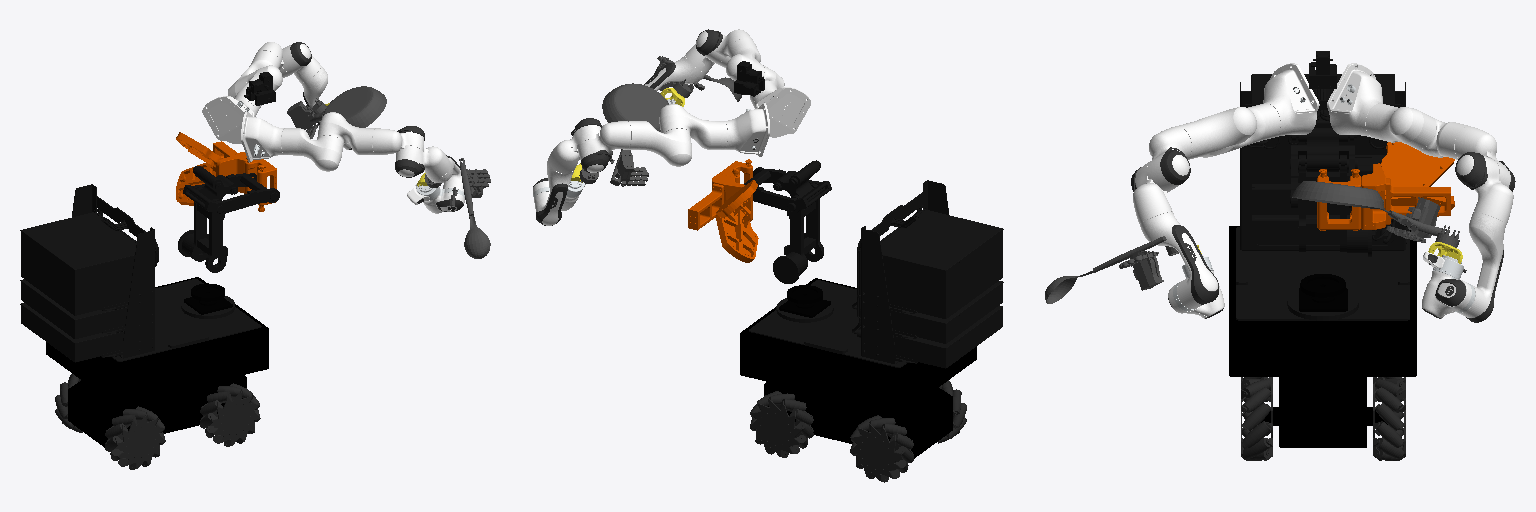
--- Render facts (derived) ---
3 views of the same robot in one strip: view 1: azimuth 30°, elevation 25°; view 2: azimuth 150°, elevation 25°; view 3: azimuth 270°, elevation 25° (orthographic).
Robot: curi — 114 links, 113 joints (85 revolute, 4 continuous, 23 fixed, 1 floating); root link world; default pose: all joints at 0 but 2 set to mid-range because 0 is outside their limits (panda_left_joint4 = -1.57, panda_right_joint4 = -1.57).
Visible links, largest first — view 1: control_box, summit_xls_base_link, summit_xls_back_right_wheel_link, torso_end, summit_xls_front_right_wheel_link, torso_link_b2, pan_link, torso_link_c1, panda_right_link1, panda_left_link0, panda_right_link0, panda_right_link4 (+11 smaller); view 2: control_box, summit_xls_base_link, torso_end, summit_xls_back_left_wheel_link, summit_xls_front_left_wheel_link, torso_link_b2, pan_link, panda_left_link2, panda_right_link0, panda_left_link1, panda_left_link0, panda_left_link3 (+9 smaller); view 3: control_box, summit_xls_base_link, torso_end, panda_right_link5, panda_left_link0, panda_right_link0, panda_left_link5, summit_xls_front_left_wheel_link, summit_xls_front_right_wheel_link, panda_right_link2, panda_left_link4, panda_left_link1 (+17 smaller).
Boxes of the visible links, x1,y1,x2,y2 form: control_box: (20,184,261,362); summit_xls_base_link: (46,277,268,447); summit_xls_back_right_wheel_link: (105,406,165,469); torso_end: (176,132,276,211); summit_xls_front_right_wheel_link: (200,383,260,446); torso_link_b2: (178,187,227,272); pan_link: (310,86,386,127); torso_link_c1: (183,173,279,215); panda_right_link1: (281,128,343,171); panda_left_link0: (202,96,255,143); panda_right_link0: (241,111,284,162); panda_right_link4: (395,145,449,177); control_box: (749,180,1003,368); summit_xls_base_link: (740,278,976,458); torso_end: (688,159,758,262); summit_xls_back_left_wheel_link: (850,415,913,482); summit_xls_front_left_wheel_link: (750,391,813,457); torso_link_b2: (773,183,823,283); pan_link: (602,83,668,185); panda_left_link2: (628,121,691,166); panda_right_link0: (754,87,810,137); panda_left_link1: (659,104,727,149); panda_left_link0: (724,103,769,156); panda_left_link3: (578,121,630,172); control_box: (1236,74,1409,320); summit_xls_base_link: (1229,226,1416,447); torso_end: (1317,142,1454,230); panda_right_link5: (1140,212,1218,308); panda_left_link0: (1327,63,1382,137); panda_right_link0: (1263,63,1319,137); panda_left_link5: (1457,212,1506,322); summit_xls_front_left_wheel_link: (1373,379,1405,460); summit_xls_front_right_wheel_link: (1241,379,1272,460); panda_right_link2: (1179,107,1256,159); panda_left_link4: (1455,152,1513,223); panda_left_link1: (1366,103,1435,148).
Bounding box of the posed robot: 1.76 × 1.45 × 1.51 m (x, y, z).
75 mesh visuals loaded from 34 distinct referenced files (9 binary STL, 20 Collada DAE, 2 OBJ); not drawn: 3 (reference not matched to a file when rendering).

robot.urdf — curi:
<?xml version="1.0" ?>
<!-- =================================================================================== -->
<!-- |    This document was autogenerated by xacro from ../robots/curi.urdf.xacro      | -->
<!-- |    EDITING THIS FILE BY HAND IS NOT RECOMMENDED                                 | -->
<!-- =================================================================================== -->
<robot name="curi">
  <!-- in kg-->
  <!-- =============================================================== -->
  <!-- || This file does not contain official inertial properties   || -->
  <!-- || of panda robot. The values are from the identification    || -->
  <!-- || results published in: Identification of the Franka Emika  || -->
  <!-- || PandaRobot With Retrieval of Feasible Parameters Using    || -->
  <!-- || Penalty-Based Optimization                                || -->
  <!-- || by: Claudio Gaz, Marco Cognetti, Alexander Oliva,         || -->
  <!-- || Paolo Robuffo Giordano, Alessandro de Luca                || -->
  <!-- =============================================================== -->
  <link name="world"/>
  <material name="qbhand/optional">
  <color rgba="0.0 0.5 0.8 1.0"/>
  </material>
  <material name="qbhand/base">
    <color rgba="0.35 0.35 0.35 1.0"/>
  </material>
  <material name="qbhand/palm">
    <color rgba="0.35 0.35 0.35 1.0"/>
  </material>
  <material name="qbhand/knuckle">
    <color rgba="0.35 0.35 0.35 1.0"/>
  </material>
  <material name="qbhand/proximal">
    <color rgba="0.35 0.35 0.35 1.0"/>
  </material>
  <material name="qbhand/middle">
    <color rgba="0.35 0.35 0.35 1.0"/>
  </material>
  <material name="qbhand/distal">
    <color rgba="0.35 0.35 0.35 1.0"/>
  </material>
  <material name="qbhand/default">
    <color rgba="0.35 0.35 0.35 1.0"/>
  </material>
  <joint name="reference" type="floating">
    <parent link="world"/>
    <child link="summit_xls_base_footprint"/>
  </joint>
  <link name="summit_xls_base_footprint">
    <visual>
      <origin rpy="0 0 0" xyz="0 0 0"/>
      <geometry>
        <box size="0.001 0.001 0.001"/>
      </geometry>
    </visual>
  </link>
  <joint name="summit_xls_base_footprint_joint" type="fixed">
    <origin rpy="0 0 0" xyz="0 0 0.127"/>
    <parent link="summit_xls_base_footprint"/>
    <child link="summit_xls_base_link"/>
  </joint>
  <!-- BASE_LINK -->
  <link name="summit_xls_base_link">
    <inertial>
      <mass value="125.0"/>
      <origin xyz="0 0 0"/>
      <inertia ixx="1.391" ixy="0.004" ixz="0.0" iyy="6.853" iyz="0.0" izz="6.125"/>
    </inertial>
    <visual>
      <origin rpy="0 0 0" xyz="0 0 0"/>
      <geometry>
        <mesh filename="../meshes/robotnik/bases/summit_xls_chassis.dae"/>
      </geometry>
      <material name="black">
        <color rgba="0.0 0.0 0.0 1"/>
      </material>
    </visual>
    <collision>
      <origin rpy="0 0 0 " xyz="0 0 0"/>
      <geometry>
        <mesh filename="../meshes/robotnik/bases/summit_xls_chassis.stl"/>
      </geometry>
    </collision>
  </link>
  <joint name="summit_xls_front_right_wheel_joint" type="continuous">
    <parent link="summit_xls_base_link"/>
    <child link="summit_xls_front_right_wheel_link"/>
    <origin rpy="0 0 0" xyz="0.2225 -0.2045 0.0"/>
    <axis rpy="0 0 0" xyz="0 1 0"/>
    <limit effort="100" velocity="100"/>
    <joint_properties damping="0.0" friction="0.0"/>
  </joint>
  <link name="summit_xls_front_right_wheel_link">
    <visual>
      <origin rpy="0 0 0" xyz="0 0 0"/>
      <geometry>
        <mesh filename="../meshes/robotnik/wheels/omni_wheel_2.dae"/>
      </geometry>
      <material name="darkgrey">
        <color rgba="0.2 0.2 0.2 1"/>
      </material>
    </visual>
    <collision>
      <origin rpy="1.5707963267948966 0 0" xyz="0 0 0"/>
      <geometry>
        <cylinder length="0.087" radius="0.127"/>
      </geometry>
    </collision>
    <inertial>
      <mass value="6.5"/>
      <origin xyz="0 0 0"/>
      <inertia ixx="0.0303095" ixy="0" ixz="0" iyy="0.05241925" iyz="0" izz="0.0303095"/>
    </inertial>
  </link>
  <joint name="summit_xls_front_left_wheel_joint" type="continuous">
    <parent link="summit_xls_base_link"/>
    <child link="summit_xls_front_left_wheel_link"/>
    <origin rpy="0 0 0" xyz="0.2225 0.2045 0.0"/>
    <axis rpy="0 0 0" xyz="0 1 0"/>
    <limit effort="100" velocity="100"/>
    <joint_properties damping="0.0" friction="0.0"/>
  </joint>
  <link name="summit_xls_front_left_wheel_link">
    <visual>
      <origin rpy="0 0 0" xyz="0 0 0"/>
      <geometry>
        <mesh filename="../meshes/robotnik/wheels/omni_wheel_1.dae"/>
      </geometry>
      <material name="darkgrey">
        <color rgba="0.2 0.2 0.2 1"/>
      </material>
    </visual>
    <collision>
      <origin rpy="1.5707963267948966 0 0" xyz="0 0 0"/>
      <geometry>
        <cylinder length="0.087" radius="0.127"/>
      </geometry>
    </collision>
    <inertial>
      <mass value="6.5"/>
      <origin xyz="0 0 0"/>
      <inertia ixx="0.0303095" ixy="0" ixz="0" iyy="0.05241925" iyz="0" izz="0.0303095"/>
    </inertial>
  </link>
  <joint name="summit_xls_back_left_wheel_joint" type="continuous">
    <parent link="summit_xls_base_link"/>
    <child link="summit_xls_back_left_wheel_link"/>
    <origin rpy="0 0 0" xyz="-0.2225 0.2045 0.0"/>
    <axis rpy="0 0 0" xyz="0 1 0"/>
    <limit effort="100" velocity="100"/>
    <joint_properties damping="0.0" friction="0.0"/>
  </joint>
  <link name="summit_xls_back_left_wheel_link">
    <visual>
      <origin rpy="0 0 0" xyz="0 0 0"/>
      <geometry>
        <mesh filename="../meshes/robotnik/wheels/omni_wheel_1.dae"/>
      </geometry>
      <material name="darkgrey">
        <color rgba="0.2 0.2 0.2 1"/>
      </material>
    </visual>
    <collision>
      <origin rpy="1.5707963267948966 0 0" xyz="0 0 0"/>
      <geometry>
        <cylinder length="0.087" radius="0.127"/>
      </geometry>
    </collision>
    <inertial>
      <mass value="6.5"/>
      <origin xyz="0 0 0"/>
      <inertia ixx="0.0303095" ixy="0" ixz="0" iyy="0.05241925" iyz="0" izz="0.0303095"/>
    </inertial>
  </link>
  <joint name="summit_xls_back_right_wheel_joint" type="continuous">
    <parent link="summit_xls_base_link"/>
    <child link="summit_xls_back_right_wheel_link"/>
    <origin rpy="0 0 0" xyz="-0.2225 -0.2045 0.0"/>
    <axis rpy="0 0 0" xyz="0 1 0"/>
    <limit effort="100" velocity="100"/>
    <joint_properties damping="0.0" friction="0.0"/>
  </joint>
  <link name="summit_xls_back_right_wheel_link">
    <visual>
      <origin rpy="0 0 0" xyz="0 0 0"/>
      <geometry>
        <mesh filename="../meshes/robotnik/wheels/omni_wheel_2.dae"/>
      </geometry>
      <material name="darkgrey">
        <color rgba="0.2 0.2 0.2 1"/>
      </material>
    </visual>
    <collision>
      <origin rpy="1.5707963267948966 0 0" xyz="0 0 0"/>
      <geometry>
        <cylinder length="0.087" radius="0.127"/>
      </geometry>
    </collision>
    <inertial>
      <mass value="6.5"/>
      <origin xyz="0 0 0"/>
      <inertia ixx="0.0303095" ixy="0" ixz="0" iyy="0.05241925" iyz="0" izz="0.0303095"/>
    </inertial>
  </link>
  <joint name="torso_joint_summit_xls_base_footprint" type="fixed">
    <parent link="summit_xls_base_footprint"/>
    <child link="control_box"/>
    <origin rpy="0 0 0" xyz="0 0 0.52262"/>
  </joint>
  <link name="control_box">
    <visual>
      <origin rpy="0 0 0" xyz="0 0 0"/>
      <geometry>
        <mesh filename="../meshes/clover/visual/control_box.dae"/>
      </geometry>
    </visual>
    <inertial>
      <!-- Estimated guesses from CAD -->
      <origin rpy="0 0 0" xyz="-0.221652 1.4173e-02 0.165597"/>
      <mass value="37.813"/>
      <inertia ixx="1.672305973" ixy="-0.023504956" ixz="-0.565170381" iyy="2.616747309" iyz="0.046623093" izz="2.524344244"/>
    </inertial>
  </link>
  <link name="torso_base1">
    <visual>
      <origin rpy="0 0 0" xyz="0 0 0"/>
      <geometry>
        <mesh filename="../meshes/clover/visual/torso_base1.dae"/>
      </geometry>
    </visual>
    <collision>
      <origin rpy="0 0 0" xyz="0 0 0"/>
      <geometry>
        <mesh filename="../meshes/clover/collision/torso_base1.stl"/>
      </geometry>
    </collision>
    <inertial>
      <origin rpy="0 0 0" xyz="0 0 0.02555"/>
      <mass value="1.18"/>
      <inertia ixx="0.00241116" ixy="0" ixz="0" iyy="0.00241116" iyz="0" izz="0.00362611"/>
    </inertial>
  </link>
  <joint name="torso_joint1" type="fixed">
    <origin rpy="0 0 0" xyz="0.2375 0 0.015"/>
    <parent link="control_box"/>
    <child link="torso_base1"/>
  </joint>
  <link name="torso_base2">
    <visual>
      <origin rpy="0 0 0" xyz="0 0 0"/>
      <geometry>
        <mesh filename="../meshes/clover/visual/torso_base2.dae"/>
      </geometry>
    </visual>
    <collision>
      <origin rpy="0 0 0" xyz="0 0 0"/>
      <geometry>
        <mesh filename="../meshes/clover/collision/torso_base2.stl"/>
      </geometry>
    </collision>
    <inertial>
      <origin rpy="0 0 0" xyz="-0.05478 0.03332 -0.07616"/>
      <mass value="35.66"/>
      <inertia ixx="0.87275935" ixy="-0.06173772" ixz="0.01895727" iyy="0.57302356" iyz="0.11888755" izz="1.06212354"/>
    </inertial>
  </link>
  <joint name="torso_actuated_joint1" type="revolute">
    <safety_controller k_position="100.0" k_velocity="40.0" soft_lower_limit="-1.5" soft_upper_limit="1.5"/>
    <origin rpy="0 0 0" xyz="0 0 0.215"/>
    <parent link="torso_base1"/>
    <child link="torso_base2"/>
    <axis xyz="0 0 1"/>
    <limit acceleration="0.6" effort="300" lower="-1.57" upper="1.57" velocity="0.3"/>
    <dynamics D="1" K="7000" damping="0.003" friction="0.0" mu_coulomb="0" mu_viscous="16"/>
  </joint>
  <link name="torso_link_b2">
    <visual>
      <origin rpy="0 0 0" xyz="0 0 0"/>
      <geometry>
        <mesh filename="../meshes/clover/visual/torso_link_b2.dae"/>
      </geometry>
    </visual>
    <collision>
      <origin rpy="0 0 0" xyz="0 0 0"/>
      <geometry>
        <mesh filename="../meshes/clover/collision/torso_link_b2.stl"/>
      </geometry>
    </collision>
    <inertial>
      <origin rpy="0 0 0" xyz="2.066e-03 2.4036e-02 8.3361e-02"/>
      <mass value="2.698"/>
      <inertia ixx="0.035907338" ixy="-0.000134319" ixz="0.000037769" iyy="0.023944853" iyz="-0.005304362" izz="0.014484777"/>
    </inertial>
  </link>
  <joint name="torso_actuated_joint2" type="fixed">
    <origin rpy="0 0 0" xyz="0 0 0"/>
    <parent link="torso_base2"/>
    <child link="torso_link_b2"/>
  </joint>
  <link name="torso_middle">
    <visual>
      <origin rpy="0 0 0" xyz="0 0 0"/>
      <geometry>
        <mesh filename="../meshes/clover/visual/torso_middle.dae"/>
      </geometry>
    </visual>
    <collision>
      <origin rpy="0 0 0" xyz="0 0 0"/>
      <geometry>
        <mesh filename="../meshes/clover/collision/torso_middle.stl"/>
      </geometry>
    </collision>
    <inertial>
      <origin rpy="0 0 0" xyz="3.2089e-02 0 4.789e-02"/>
      <mass value="2.688"/>
      <inertia ixx="0.00744652" ixy="-0.00003495" ixz="0.000230038" iyy="0.006884728" iyz="0.000041279" izz="0.008084049"/>
    </inertial>
  </link>
  <joint name="torso_joint5" type="fixed">
    <origin rpy="0 0 0" xyz="0 0 0.25"/>
    <parent link="torso_link_b2"/>
    <child link="torso_middle"/>
  </joint>
  <link name="torso_link_c1">
    <visual>
      <origin rpy="0 0 0" xyz="0 0 0"/>
      <geometry>
        <mesh filename="../meshes/clover/visual/torso_link_c1.dae"/>
      </geometry>
    </visual>
    <collision>
      <origin rpy="0 0 0" xyz="0 0 0"/>
      <geometry>
        <mesh filename="../meshes/clover/collision/torso_link_c1.stl"/>
      </geometry>
    </collision>
    <inertial>
      <origin rpy="0 0 0" xyz="0.10533 1.503e-03 9.863e-03"/>
      <mass value="2.4"/>
      <inertia ixx="0.014986407" ixy="-1.7102e-05" ixz="-4.53321e-04" iyy="0.027549549" iyz="-3.557e-05" izz="0.041344611"/>
    </inertial>
  </link>
  <joint name="torso_actuated_joint3" type="fixed">
    <origin rpy="0 0 0" xyz="0 0 0"/>
    <parent link="torso_middle"/>
    <child link="torso_link_c1"/>
  </joint>
  <link name="torso_end">
    <visual>
      <origin rpy="0 0 0" xyz="0 0 0"/>
      <geometry>
        <mesh filename="../meshes/clover/visual/torso_end_v2_yup.dae"/>
      </geometry>
    </visual>
    <collision>
      <origin rpy="0 0 0" xyz="0 0 0"/>
      <geometry>
        <mesh filename="../meshes/clover/collision/torso_end_v2_yup.stl"/>
      </geometry>
    </collision>
    <inertial>
      <origin rpy="0 0 0" xyz="1.3086e-02 0.132e-03 0.184066"/>
      <mass value="12.083"/>
      <inertia ixx="0.146638956" ixy="-2.2432e-05" ixz="-0.012989506" iyy="0.097685785" iyz="-2.19304e-04" izz="0.100449047"/>
    </inertial>
  </link>
  <link name="shell">
    <visual>
      <origin rpy="0 0 0" xyz="0 0 0"/>
      <geometry>
        <mesh filename="../meshes/clover/visual/Shell_v2_Share_yup.dae"/>
      </geometry>
    </visual>
    <collision>
      <origin rpy="0 0 0" xyz="0 0 0"/>
      <geometry>
        <mesh filename="../meshes/clover/collision/Shell_v2_Share_yup.STL"/>
      </geometry>
    </collision>
    <inertial>
      <origin rpy="0 0 0" xyz="0.120384 0.569e-03 6.703e-03"/>
      <mass value="1.63531"/>
      <inertia ixx="0.010693997" ixy="5.645e-06" ixz="-9.4779e-04" iyy="0.026717753" iyz="-8.196e-06" izz="0.036543169"/>
    </inertial>
  </link>
  <joint name="shell_torso_end" type="fixed">
    <parent link="torso_end"/>
    <child link="shell"/>
    <origin rpy="0 0 0" xyz="0 0 0"/>
  </joint>
  <joint name="torso_joint8" type="fixed">
    <origin rpy="0 0 0" xyz="0.25 0 0"/>
    <parent link="torso_link_c1"/>
    <child link="torso_end"/>
  </joint>
  <joint name="head_joint_torso_end" type="fixed">
    <parent link="torso_end"/>
    <child link="head_base"/>
    <origin rpy="0 0 0" xyz="0.02 0 0.3929"/>
  </joint>
  <link name="head_base">
    <visual>
      <origin rpy="0 0 0" xyz="0 0 0"/>
      <geometry>
        <mesh filename="../meshes/clover/visual/head_base.dae"/>
      </geometry>
    </visual>
    <collision>
      <origin rpy="0 0 0" xyz="0 0 0"/>
      <geometry>
        <mesh filename="../meshes/clover/collision/head_base.stl"/>
      </geometry>
    </collision>
    <inertial>
      <!-- Estimated guesses from CAD -->
      <origin rpy="0 0 0" xyz="-1.9726e-02 1.281e-03 2.2693e-02"/>
      <mass value="0.803"/>
      <inertia ixx="6.56432e-04" ixy="-3.4976e-05" ixz="0.652e-6" iyy="6.42664e-04" iyz="-1.577e-06" izz="1.046862e-03"/>
    </inertial>
  </link>
  <joint name="head_actuated_joint1" type="revolute">
    <safety_controller k_position="100.0" k_velocity="40.0" soft_lower_limit="-1.5" soft_upper_limit="1.5"/>
    <origin rpy="0 0 0" xyz="0 0 0.045"/>
    <parent link="head_base"/>
    <child link="head_link1"/>
    <axis xyz="0 0 1"/>
    <limit effort="30" lower="-1.57" upper="1.57" velocity="1.0"/>
    <dynamics D="1" K="7000" damping="0.003" friction="0.0" mu_coulomb="0" mu_viscous="16"/>
  </joint>
  <link name="head_link1">
    <visual>
      <origin rpy="0 0 0" xyz="0 0 0"/>
      <geometry>
        <mesh filename="../meshes/clover/visual/head_link1.dae"/>
      </geometry>
    </visual>
    <collision>
      <origin rpy="0 0 0" xyz="0 0 0"/>
      <geometry>
        <mesh filename="../meshes/clover/collision/head_link1.stl"/>
      </geometry>
    </collision>
    <inertial>
      <!-- Estimated guesses from CAD -->
      <origin rpy="0 0 0" xyz="-1.8392e-02 -0.4e-03 2.8338e-02"/>
      <mass value="0.534"/>
      <inertia ixx="2.34142e-04" ixy="-3.129e-06" ixz="6.321e-05" iyy="5.09246e-04" iyz="1.49e-06" izz="4.3777e-04"/>
    </inertial>
  </link>
  <joint name="head_actuated_joint2" type="revolute">
    <safety_controller k_position="100.0" k_velocity="40.0" soft_lower_limit="-0.8" soft_upper_limit="0.5"/>
    <origin rpy="0 0 0" xyz="0 0 0.043"/>
    <parent link="head_link1"/>
    <child link="head_link2"/>
    <axis xyz="0 1 0"/>
    <limit effort="30" lower="-0.82" upper="0.52" velocity="1.0"/>
    <dynamics D="1" K="7000" damping="0.003" friction="0.0" mu_coulomb="0" mu_viscous="16"/>
  </joint>
  <link name="head_link2">
    <visual>
      <origin rpy="0 0 0" xyz="0 0 0"/>
      <geometry>
        <mesh filename="../meshes/clover/visual/head_link2.dae"/>
      </geometry>
    </visual>
    <collision>
      <origin rpy="0 0 0" xyz="0 0 0"/>
      <geometry>
        <mesh filename="../meshes/clover/collision/head_link2.stl"/>
      </geometry>
    </collision>
    <inertial>
      <!-- Estimated guesses from CAD -->
      <origin rpy="0 0 0" xyz="3.8624e-02 0 0.143829"/>
      <mass value="1.346"/>
      <inertia ixx="0.010306864" ixy="-5.953e-06" ixz="6.74795e-04" iyy="0.011632066" iyz="-1.125e-06" izz="0.009582498"/>
    </inertial>
  </link>
  <joint name="panda_left_joint_torso_end" type="fixed">
    <parent link="torso_end"/>
    <child link="panda_left_link0"/>
    <origin rpy="-1.3685238493647454 0.913218224774749 -0.6168337646727412" xyz="-0.08537 0.07009 0.2535"/>
  </joint>
  <link name="panda_left_link0">
    <visual>
      <origin rpy="0 0 0" xyz="0 0 0"/>
      <geometry>
        <mesh filename="../meshes/franka/visual/link0.dae"/>
      </geometry>
    </visual>
    <collision>
      <origin rpy="0 0 0" xyz="0 0 0"/>
      <geometry>
        <mesh filename="../meshes/franka/collision/link0.stl"/>
      </geometry>
    </collision>
    <inertial>
      <!-- Estimated guesses from CAD -->
      <origin rpy="0 0 0" xyz="-0.041018 -0.00014 0.049974"/>
      <mass value="0.629769"/>
      <inertia ixx="0.00315" ixy="8.2904E-07" ixz="0.00015" iyy="0.00388" iyz="8.2299E-06" izz="0.004285"/>
    </inertial>
  </link>
  <link name="panda_left_link1">
    <visual>
      <origin rpy="0 0 0" xyz="0 0 0"/>
      <geometry>
        <mesh filename="../meshes/franka/visual/link1.dae"/>
      </geometry>
    </visual>
    <collision>
      <origin rpy="0 0 0" xyz="0 0 0"/>
      <geometry>
        <mesh filename="../meshes/franka/collision/link1.stl"/>
      </geometry>
    </collision>
    <inertial>
      <origin rpy="0 0 0" xyz="0.003875 0.002081 -0.04762"/>
      <mass value="4.970684"/>
      <inertia ixx="0.70337" ixy="-0.00013900" ixz="0.0067720" iyy="0.70661" iyz="0.019169" izz="0.0091170"/>
    </inertial>
  </link>
  <joint name="panda_left_joint1" type="revolute">
    <safety_controller k_position="100.0" k_velocity="40.0" soft_lower_limit="-2.8973" soft_upper_limit="2.8973"/>
    <origin rpy="0 0 0" xyz="0 0 0.333"/>
    <parent link="panda_left_link0"/>
    <child link="panda_left_link1"/>
    <axis xyz="0 0 1"/>
    <limit acceleration="15" effort="87" lower="-2.8973" upper="2.8973" velocity="2.1750"/>
    <dynamics D="1" K="7000" damping="0.003" friction="0.0" mu_coulomb="0" mu_viscous="16"/>
  </joint>
  <link name="panda_left_link2">
    <visual>
      <origin rpy="0 0 0" xyz="0 0 0"/>
      <geometry>
        <mesh filename="../meshes/franka/visual/link2.dae"/>
      </geometry>
    </visual>
    <collision>
      <origin rpy="0 0 0" xyz="0 0 0"/>
      <geometry>
        <mesh filename="../meshes/franka/collision/link2.stl"/>
      </geometry>
    </collision>
    <inertial>
      <origin rpy="0 0 0" xyz=" -0.003141 -0.02872  0.003495"/>
      <mass value="0.646926"/>
      <inertia ixx="0.0079620" ixy="-3.9250e-3" ixz="1.0254e-02" iyy="2.8110e-02" iyz="7.0400e-04" izz="2.5995e-02"/>
    </inertial>
  </link>
  <joint name="panda_left_joint2" type="revolute">
    <safety_controller k_position="100.0" k_velocity="40.0" soft_lower_limit="-1.7628" soft_upper_limit="1.7628"/>
    <origin rpy="-1.5707963267948966 0 0" xyz="0 0 0"/>
    <parent link="panda_left_link1"/>
    <child link="panda_left_link2"/>
    <axis xyz="0 0 1"/>
    <limit acceleration="7.5" effort="87" lower="-1.7628" upper="1.7628" velocity="2.1750"/>
    <dynamics D="1" K="7000" damping="0.003" friction="0.0" mu_coulomb="0" mu_viscous="16"/>
  </joint>
  <link name="panda_left_link3">
    <visual>
      <origin rpy="0 0 0" xyz="0 0 0"/>
      <geometry>
        <mesh filename="../meshes/franka/visual/link3.dae"/>
      </geometry>
    </visual>
    <collision>
      <origin rpy="0 0 0" xyz="0 0 0"/>
      <geometry>
        <mesh filename="../meshes/franka/collision/link3.stl"/>
      </geometry>
    </collision>
    <inertial>
      <origin rpy="0 0 0" xyz="2.7518e-02 3.9252e-02 -6.6502e-02"/>
      <mass value="3.228604"/>
      <inertia ixx="3.7242e-02" ixy="-4.7610e-03" ixz="-1.1396e-02" iyy="3.6155e-02" iyz="-1.2805e-02" izz="1.0830e-02"/>
    </inertial>
  </link>
  <joint name="panda_left_joint3" type="revolute">
    <safety_controller k_position="100.0" k_velocity="40.0" soft_lower_limit="-2.8973" soft_upper_limit="2.8973"/>
    <origin rpy="1.5707963267948966 0 0" xyz="0 -0.316 0"/>
    <parent link="panda_left_link2"/>
    <child link="panda_left_link3"/>
    <axis xyz="0 0 1"/>
    <limit acceleration="12.5" effort="87" lower="-2.8973" upper="2.8973" velocity="2.1750"/>
    <dynamics D="1" K="7000" damping="0.003" friction="0.0" mu_coulomb="0" mu_viscous="16"/>
  </joint>
  <link name="panda_left_link4">
    <visual>
      <origin rpy="0 0 0" xyz="0 0 0"/>
      <geometry>
        <mesh filename="../meshes/franka/visual/link4.dae"/>
      </geometry>
    </visual>
    <collision>
      <origin rpy="0 0 0" xyz="0 0 0"/>
      <geometry>
        <mesh filename="../meshes/franka/collision/link4.stl"/>
      </geometry>
    </collision>
    <inertial>
      <origin rpy="0 0 0" xyz="-5.317e-02 1.04419e-01 2.7454e-02"/>
      <mass value="3.587895"/>
      <inertia ixx="2.5853e-02" ixy="7.7960e-03" ixz="-1.3320e-03" iyy="1.9552e-02" iyz="8.6410e-03" izz="2.8323e-02"/>
    </inertial>
  </link>
  <joint name="panda_left_joint4" type="revolute">
    <safety_controller k_position="100.0" k_velocity="40.0" soft_lower_limit="-3.0718" soft_upper_limit="-0.0698"/>
    <origin rpy="1.5707963267948966 0 0" xyz="0.0825 0 0"/>
    <parent link="panda_left_link3"/>
    <child link="panda_left_link4"/>
    <axis xyz="0 0 1"/>
    <limit acceleration="12.5" effort="87" lower="-3.0718" upper="-0.0698" velocity="2.1750"/>
    <dynamics D="1" K="7000" damping="0.003" friction="0.0" mu_coulomb="0" mu_viscous="16"/>
  </joint>
  <link name="panda_left_link5">
    <visual>
      <origin rpy="0 0 0" xyz="0 0 0"/>
      <geometry>
        <mesh filename="../meshes/franka/visual/link5.dae"/>
      </geometry>
    </visual>
    <collision>
      <origin rpy="0 0 0" xyz="0 0 0"/>
      <geometry>
        <mesh filename="../meshes/franka/collision/link5.stl"/>
      </geometry>
    </collision>
    <inertial>
      <origin rpy="0 0 0" xyz="-1.1953e-02 4.1065e-02 -3.8437e-02"/>
      <mass value="1.225946"/>
      <inertia ixx="3.5549e-02" ixy="-2.1170e-03" ixz="-4.0370e-03" iyy="2.9474e-02" iyz="2.2900e-04" izz="8.6270e-03"/>
    </inertial>
  </link>
  <joint name="panda_left_joint5" type="revolute">
    <safety_controller k_position="100.0" k_velocity="40.0" soft_lower_limit="-2.8973" soft_upper_limit="2.8973"/>
    <origin rpy="-1.5707963267948966 0 0" xyz="-0.0825 0.384 0"/>
    <parent link="panda_left_link4"/>
    <child link="panda_left_link5"/>
    <axis xyz="0 0 1"/>
    <limit acceleration="15" effort="12" lower="-2.8973" upper="2.8973" velocity="2.6100"/>
    <dynamics D="1" K="7000" damping="0.003" friction="0.0" mu_coulomb="0" mu_viscous="16"/>
  </joint>
  <link name="panda_left_link6">
    <visual>
      <origin rpy="0 0 0" xyz="0 0 0"/>
      <geometry>
        <mesh filename="../meshes/franka/visual/link6.dae"/>
      </geometry>
    </visual>
    <collision>
      <origin rpy="0 0 0" xyz="0 0 0"/>
      <geometry>
        <mesh filename="../meshes/franka/collision/link6.stl"/>
      </geometry>
    </collision>
    <inertial>
      <origin rpy="0 0 0" xyz="6.0149e-02 -1.4117e-02 -1.0517e-02"/>
      <mass value="1.666555"/>
      <inertia ixx="1.9640e-03" ixy="1.0900e-04" ixz="-1.1580e-03" iyy="4.3540e-03" iyz="3.4100e-04" izz="5.4330e-03"/>
    </inertial>
  </link>
  <joint name="panda_left_joint6" type="revolute">
    <safety_controller k_position="100.0" k_velocity="40.0" soft_lower_limit="-0.0175" soft_upper_limit="3.7525"/>
    <origin rpy="1.5707963267948966 0 0" xyz="0 0 0"/>
    <parent link="panda_left_link5"/>
    <child link="panda_left_link6"/>
    <axis xyz="0 0 1"/>
    <limit acceleration="20" effort="12" lower="-0.0175" upper="3.7525" velocity="2.6100"/>
    <dynamics D="1" K="7000" damping="0.003" friction="0.0" mu_coulomb="0" mu_viscous="16"/>
  </joint>
  <link name="panda_left_link7">
    <visual>
      <origin rpy="0 0 0" xyz="0 0 0"/>
      <geometry>
        <mesh filename="../meshes/franka/visual/link7.dae"/>
      </geometry>
    </visual>
    <collision>
      <origin rpy="0 0 0" xyz="0 0 0"/>
      <geometry>
        <mesh filename="../meshes/franka/collision/link7.stl"/>
      </geometry>
    </collision>
    <inertial>
      <origin rpy="0 0 0" xyz="1.0517e-02 -4.252e-03 6.1597e-02"/>
      <mass value="7.35522e-01"/>
      <inertia ixx="1.2516e-02" ixy="-4.2800e-04" ixz="-1.1960e-03" iyy="1.0027e-02" iyz="-7.4100e-04" izz="4.8150e-03"/>
    </inertial>
  </link>
  <joint name="panda_left_joint7" type="revolute">
    <safety_controller k_position="100.0" k_velocity="40.0" soft_lower_limit="-2.8973" soft_upper_limit="2.8973"/>
    <origin rpy="1.5707963267948966 0 0" xyz="0.088 0 0"/>
    <parent link="panda_left_link6"/>
    <child link="panda_left_link7"/>
    <axis xyz="0 0 1"/>
    <limit acceleration="20" effort="12" lower="-2.8973" upper="2.8973" velocity="2.6100"/>
    <dynamics D="1" K="7000" damping="0.003" friction="0.0" mu_coulomb="0" mu_viscous="16"/>
  </joint>
  <joint name="panda_left_end_effector_joint" type="fixed">
    <parent link="panda_left_link7"/>
    <child link="left_hand_root_link"/>
    <origin rpy="0 0 -0.7853981633974483" xyz="0 0 0.107"/>
  </joint>
  <link name="left_hand_root_link"/>
  <joint name="left_qbhand_flange_joint" type="fixed">
    <origin rpy="0 0 0.7854" xyz="0 0 0"/>
    <parent link="left_hand_root_link"/>
    <child link="flange90_l"/>
  </joint>
  <link name="flange90_l">
    <visual>
      <origin rpy="0 0 0" xyz="0 0 0"/>
      <geometry>
        <mesh filename="../meshes/clover/visual/flange90_yup.dae"/>
      </geometry>
    </visual>
    <collision>
      <origin rpy="0 0 0" xyz="0 0 0"/>
      <geometry>
        <mesh filename="../meshes/clover/collision/flange90_yup.STL"/>
      </geometry>
    </collision>
  </link>
  <joint name="left_qbhand_base_fixed_joint" type="fixed">
    <origin rpy="1.5708 0 1.5708" xyz="0.046 0 0.038"/>
    <parent link="flange90_l"/>
    <child link="left_qbhand_base_link"/>
  </joint>
  <link name="left_qbhand_base_link">
    <inertial>
      <mass value="0.205"/>
      <origin rpy="0 0 0" xyz="0.0 7.8738498e-04 1.5878899e-02"/>
      <inertia ixx="0.00012506929" ixy="0.0" ixz="0.0" iyy="0.0001338779" iyz="0.0" izz="0.00019218394"/>
    </inertial>
    <visual>
      <origin rpy="0 0 0" xyz="0 0 0"/>
      <geometry>
        <mesh filename="../meshes/qbhand/flange_iso_04_yupzfront.STL" scale="1 1 1"/>
      </geometry>
      <material name="qbhand/base">
        <color rgba="0.35 0.35 0.35 1.0"/>
      </material>
    </visual>
    <collision>
      <origin rpy="0 0 0" xyz="0 0 0"/>
      <geometry>
        <mesh filename="../meshes/qbhand/flange_iso_04_yupzfront.STL" scale="1 1 1"/>
      </geometry>
    </collision>
  </link>
  <joint name="left_qbhand_palm_fixed_joint" type="fixed">
    <origin rpy="1.57 0 3.14" xyz="0.0045 0.0145 0.144"/>
    <parent link="left_qbhand_base_link"/>
    <child link="left_qbhand_palm_link"/>
  </joint>
  <link name="left_qbhand_palm_link">
    <inertial>
      <mass value="0.45"/>
      <origin rpy="0 0 0" xyz="0.0030 -0.0449 -0.0135"/>
      <inertia ixx="0.00045" ixy="0.0" ixz="0.0" iyy="0.0006" iyz="0.0" izz="0.00025"/>
    </inertial>
    <visual>
      <origin rpy="0 0 0" xyz="0 0 0"/>
      <geometry>
        <mesh filename="../meshes/qbhand/palm_pinch_l_yupzfront1.STL" scale="1000 1000 1000"/>
      </geometry>
      <material name="qbhand/palm">
        <color rgba="0.35 0.35 0.35 1.0"/>
      </material>
    </visual>
    <collision>
      <origin rpy="0 0 0" xyz="0 0 0"/>
      <geometry>
        <mesh filename="../meshes/qbhand/palm_pinch_l_yupzfront1.STL" scale="1000 1000 1000"/>
      </geometry>
    </collision>
  </link>
  <joint name="left_qbhand_pan_joint" type="fixed">
    <origin rpy="-1.57 0 2.7" xyz="-0.02 -0.02 0.017"/>
    <parent link="left_qbhand_palm_link"/>
    <child link="pan_link"/>
    <axis xyz="0 0 1"/>
    <dynamics damping="0.0" friction="0.0"/>
    <limit effort="100" lower="0.0" upper="1.571" velocity="100"/>
  </joint>
  <link name="pan_link">
    <inertial>
      <mass value="0.01"/>
      <origin rpy="0 0 0" xyz="1.3071561e-02 2.7346340e-03 6.4090487e-04"/>
      <inertia ixx="3.5827953e-07" ixy="-2.0934657e-07" ixz="-6.8435459e-08" iyy="1.3882698e-06" iyz="-3.2001578e-08" izz="1.3570267e-06"/>
    </inertial>
    <visual>
      <origin rpy="0 0 0" xyz="0 0 0"/>
      <geometry>
        <mesh filename="../../objects/pan_spoon/pan.obj" scale="1 1 1"/>
      </geometry>
      <material name="qbhand/pan">
        <color rgba="0.35 0.35 0.35 1.0"/>
      </material>
    </visual>
    <collision>
      <origin rpy="0 0 0" xyz="0 0 0"/>
      <geometry>
        <mesh filename="../../objects/pan_spoon/pan.obj" scale="1 1 1"/>
      </geometry>
    </collision>
  </link>
  <joint name="left_qbhand_synergy_joint" type="revolute">
    <origin rpy="0 0 0" xyz="0 0 0"/>
    <parent link="left_qbhand_palm_link"/>
    <child link="left_qbhand_synergy_tendon_virtual_link"/>
    <axis xyz="0 0 1"/>
    <dynamics damping="0.0" friction="0.0"/>
    <limit effort="100" lower="0.0" upper="1.0" velocity="100"/>
  </joint>
  <link name="left_qbhand_synergy_tendon_virtual_link">
    <inertial>
      <origin rpy="0 0 0" xyz="0 0 0"/>
      <mass value="1e-4"/>
      <inertia ixx="1e-9" ixy="0.0" ixz="0.0" iyy="1e-9" iyz="0.0" izz="1e-9"/>
    </inertial>
  </link>
  <joint name="left_qbhand_thumb_knuckle_joint" type="revolute">
    <origin rpy="-1.57 3.14 0.0" xyz="-0.044 -0.0465 0.002"/>
    <parent link="left_qbhand_palm_link"/>
    <child link="left_qbhand_thumb_knuckle_link"/>
    <axis xyz="0 0 1"/>
    <dynamics damping="0.0" friction="0.0"/>
    <limit effort="100" lower="0.0" upper="1.571" velocity="100"/>
    <mimic joint="left_qbhand_synergy_joint" multiplier="2.542"/>
  </joint>
  <link name="left_qbhand_thumb_knuckle_link">
    <inertial>
      <mass value="0.01"/>
      <origin rpy="0 0 0" xyz="1.3071561e-02 2.7346340e-03 6.4090487e-04"/>
      <inertia ixx="3.5827953e-07" ixy="-2.0934657e-07" ixz="-6.8435459e-08" iyy="1.3882698e-06" iyz="-3.2001578e-08" izz="1.3570267e-06"/>
    </inertial>
    <visual>
      <origin rpy="0 0 0" xyz="0 0 0"/>
      <geometry>
        <mesh filename="../meshes/qbhand/ph_thumb_l_yupzfront1.STL" scale="1 1 1"/>
      </geometry>
      <material name="qbhand/knuckle">
        <color rgba="0.35 0.35 0.35 1.0"/>
      </material>
    </visual>
    <collision>
      <origin rpy="0 0 0" xyz="0 0 0"/>
      <geometry>
        <mesh filename="../meshes/qbhand/ph_thumb_l_yupzfront1.STL" scale="1 1 1"/>
      </geometry>
    </collision>
  </link>
  <joint name="left_qbhand_thumb_proximal_joint" type="revolute">
    <origin rpy="-2.0 0.0 0.0" xyz="0.0255 0.0038 -0.00012"/>
    <parent link="left_qbhand_thumb_knuckle_link"/>
    <child link="left_qbhand_thumb_proximal_virtual_link"/>
    <axis xyz="0 0 -1"/>
    <dynamics damping="0.0" friction="0.0"/>
    <limit effort="100" lower="0.0" upper="0.785" velocity="100"/>
    <mimic joint="left_qbhand_synergy_joint" multiplier="0.785"/>
  </joint>
  <link name="left_qbhand_thumb_proximal_virtual_link">
    <inertial>
      <origin rpy="0 0 0" xyz="0 0 0"/>
      <mass value="1e-4"/>
      <inertia ixx="1e-9" ixy="0.0" ixz="0.0" iyy="1e-9" iyz="0.0" izz="1e-9"/>
    </inertial>
  </link>
  <joint name="left_qbhand_thumb_proximal_virtual_joint" type="revolute">
    <origin rpy="0 0 0" xyz="0.013 0 0"/>
    <parent link="left_qbhand_thumb_proximal_virtual_link"/>
    <child link="left_qbhand_thumb_proximal_link"/>
    <axis xyz="0 0 -1"/>
    <dynamics damping="0.0" friction="0.0"/>
    <limit effort="100" lower="0.0" upper="0.785" velocity="100"/>
    <mimic joint="left_qbhand_thumb_proximal_joint" multiplier="1.0"/>
  </joint>
  <link name="left_qbhand_thumb_proximal_link">
    <inertial>
      <mass value="0.0063"/>
      <origin rpy="0 0 0" xyz="4.7601567e-03 -1.3786947e-03 0.0"/>
      <inertia ixx="1.8024201e-07" ixy="5.756798e-09" ixz="0.0" iyy="2.3516266e-07" iyz="0.0" izz="2.691504e-07"/>
    </inertial>
    <visual>
      <origin rpy="0 0 0" xyz="0 0 0"/>
      <geometry>
        <mesh filename="../meshes/qbhand/ph_short_yupzfront1.STL" scale="1 1 1"/>
      </geometry>
      <material name="qbhand/proximal">
        <color rgba="0.35 0.35 0.35 1.0"/>
      </material>
    </visual>
    <collision>
      <origin rpy="0 0 0" xyz="0 0 0"/>
      <geometry>
        <mesh filename="../meshes/qbhand/ph_short_yupzfront1.STL" scale="1 1 1"/>
      </geometry>
    </collision>
  </link>
  <joint name="left_qbhand_thumb_distal_joint" type="revolute">
    <origin rpy="0 0 0" xyz="0.009 0 0"/>
    <parent link="left_qbhand_thumb_proximal_link"/>
    <child link="left_qbhand_thumb_distal_virtual_link"/>
    <axis xyz="0 0 -1"/>
    <dynamics damping="0.0" friction="0.0"/>
    <limit effort="100" lower="0.0" upper="0.785" velocity="100"/>
    <mimic joint="left_qbhand_synergy_joint" multiplier="0.785"/>
  </joint>
  <link name="left_qbhand_thumb_distal_virtual_link">
    <inertial>
      <origin rpy="0 0 0" xyz="0 0 0"/>
      <mass value="1e-4"/>
      <inertia ixx="1e-9" ixy="0.0" ixz="0.0" iyy="1e-9" iyz="0.0" izz="1e-9"/>
    </inertial>
  </link>
  <joint name="left_qbhand_thumb_distal_virtual_joint" type="revolute">
    <origin rpy="0 0 0" xyz="0.013 0 0"/>
    <parent link="left_qbhand_thumb_distal_virtual_link"/>
    <child link="left_qbhand_thumb_distal_link"/>
    <axis xyz="0 0 -1"/>
    <dynamics damping="0.0" friction="0.0"/>
    <limit effort="100" lower="0.0" upper="0.785" velocity="100"/>
    <mimic joint="left_qbhand_thumb_distal_joint" multiplier="1.0"/>
  </joint>
  <link name="left_qbhand_thumb_distal_link">
    <inertial>
      <mass value="0.009"/>
      <origin rpy="0 0 0" xyz="8.8025467e-03 -1.7219289e-03 0.0"/>
      <inertia ixx="2.6586142e-07" ixy="1.2416847e-08" ixz="0.0" iyy="5.9935767e-07" iyz="0.0" izz="6.6781963e-07"/>
    </inertial>
    <visual>
      <origin rpy="0 0 0" xyz="0 0 0"/>
      <geometry>
        <mesh filename="../meshes/qbhand/ph_distal_yupzfront1.STL" scale="1 1 1"/>
      </geometry>
      <material name="qbhand/distal">
        <color rgba="0.35 0.35 0.35 1.0"/>
      </material>
    </visual>
    <collision>
      <origin rpy="0 0 0" xyz="0 0 0"/>
      <geometry>
        <mesh filename="../meshes/qbhand/ph_distal_yupzfront1.STL" scale="1 1 1"/>
      </geometry>
    </collision>
  </link>
  <joint name="left_qbhand_index_knuckle_joint" type="revolute">
    <origin rpy="0 3.14 -1.57" xyz="-0.02 -0.007 -0.014"/>
    <parent link="left_qbhand_palm_link"/>
    <child link="left_qbhand_index_knuckle_link"/>
    <axis xyz="0 0 -1"/>
    <dynamics damping="0.0" friction="0.0"/>
    <limit effort="100" lower="-0.524" upper="0.524" velocity="100"/>
    <mimic joint="left_qbhand_synergy_joint" multiplier="0.2"/>
  </joint>
  <link name="left_qbhand_index_knuckle_link">
    <inertial>
      <mass value="0.0095"/>
      <origin rpy="0 0 0" xyz="4.2753603e-04  0.0 -1.4321738e-03"/>
      <inertia ixx="6.4337303e-07" ixy="0.0" ixz="-3.9373913e-08" iyy="1.1253771e-06" iyz="0.0" izz="7.2336948e-07"/>
    </inertial>
    <visual>
      <origin rpy="0 0 0" xyz="0 0 0"/>
      <geometry>
        <mesh filename="../meshes/qbhand/ph_knuckle_yupzfront1.STL" scale="1 1 1"/>
      </geometry>
      <material name="qbhand/knuckle">
        <color rgba="0.35 0.35 0.35 1.0"/>
      </material>
    </visual>
    <collision>
      <origin rpy="0 0 0" xyz="0 0 0"/>
      <geometry>
        <mesh filename="../meshes/qbhand/ph_knuckle_yupzfront1.STL" scale="1 1 1"/>
      </geometry>
    </collision>
  </link>
  <joint name="left_qbhand_index_proximal_joint" type="revolute">
    <origin rpy="1.57 0 0" xyz="0.009 0 0"/>
    <parent link="left_qbhand_index_knuckle_link"/>
    <child link="left_qbhand_index_proximal_virtual_link"/>
    <axis xyz="0 0 -1"/>
    <dynamics damping="0.0" friction="0.0"/>
    <limit effort="100" lower="0.0" upper="0.785" velocity="100"/>
    <mimic joint="left_qbhand_synergy_joint" multiplier="0.785"/>
  </joint>
  <link name="left_qbhand_index_proximal_virtual_link">
    <inertial>
      <origin rpy="0 0 0" xyz="0 0 0"/>
      <mass value="1e-4"/>
      <inertia ixx="1e-9" ixy="0.0" ixz="0.0" iyy="1e-9" iyz="0.0" izz="1e-9"/>
    </inertial>
  </link>
  <joint name="left_qbhand_index_proximal_virtual_joint" type="revolute">
    <origin rpy="0 0 0" xyz="0.013 0 0"/>
    <parent link="left_qbhand_index_proximal_virtual_link"/>
    <child link="left_qbhand_index_proximal_link"/>
    <axis xyz="0 0 -1"/>
    <dynamics damping="0.0" friction="0.0"/>
    <limit effort="100" lower="0.0" upper="0.785" velocity="100"/>
    <mimic joint="left_qbhand_index_proximal_joint" multiplier="1.0"/>
  </joint>
  <link name="left_qbhand_index_proximal_link">
    <inertial>
      <mass value="0.0082"/>
      <origin rpy="0 0 0" xyz="8.7707437e-03 -1.7863138e-03 0.0"/>
      <inertia ixx="2.2722068e-07" ixy="1.1586053e-08" ixz="0.0" iyy="5.5947233e-07" iyz="0.0" izz="5.9562195e-07"/>
    </inertial>
    <visual>
      <origin rpy="0 0 0" xyz="0 0 0"/>
      <geometry>
        <mesh filename="../meshes/qbhand/ph_medium_yupzfront1.STL" scale="1 1 1"/>
      </geometry>
      <material name="qbhand/proximal">
        <color rgba="0.35 0.35 0.35 1.0"/>
      </material>
    </visual>
    <collision>
      <origin rpy="0 0 0" xyz="0 0 0"/>
      <geometry>
        <mesh filename="../meshes/qbhand/ph_medium_yupzfront1.STL" scale="1 1 1"/>
      </geometry>
    </collision>
  </link>
  <joint name="left_qbhand_index_middle_joint" type="revolute">
    <origin rpy="0 0 0" xyz="0.017 0 0"/>
    <parent link="left_qbhand_index_proximal_link"/>
    <child link="left_qbhand_index_middle_virtual_link"/>
    <axis xyz="0 0 -1"/>
    <dynamics damping="0.0" friction="0.0"/>
    <limit effort="100" lower="0.0" upper="0.785" velocity="100"/>
    <mimic joint="left_qbhand_synergy_joint" multiplier="0.785"/>
  </joint>
  <link name="left_qbhand_index_middle_virtual_link">
    <inertial>
      <origin rpy="0 0 0" xyz="0 0 0"/>
      <mass value="1e-4"/>
      <inertia ixx="1e-9" ixy="0.0" ixz="0.0" iyy="1e-9" iyz="0.0" izz="1e-9"/>
    </inertial>
  </link>
  <joint name="left_qbhand_index_middle_virtual_joint" type="revolute">
    <origin rpy="0 0 0" xyz="0.013 0 0"/>
    <parent link="left_qbhand_index_middle_virtual_link"/>
    <child link="left_qbhand_index_middle_link"/>
    <axis xyz="0 0 -1"/>
    <dynamics damping="0.0" friction="0.0"/>
    <limit effort="100" lower="0.0" upper="0.785" velocity="100"/>
    <mimic joint="left_qbhand_index_middle_joint" multiplier="1.0"/>
  </joint>
  <link name="left_qbhand_index_middle_link">
    <inertial>
      <mass value="0.0063"/>
      <origin rpy="0 0 0" xyz="4.7601567e-03 -1.3786947e-03 0.0"/>
      <inertia ixx="1.8024201e-07" ixy="5.756798e-09" ixz="0.0" iyy="2.3516266e-07" iyz="0.0" izz="2.691504e-07"/>
    </inertial>
    <visual>
      <origin rpy="0 0 0" xyz="0 0 0"/>
      <geometry>
        <mesh filename="../meshes/qbhand/ph_short_yupzfront1.STL" scale="1 1 1"/>
      </geometry>
      <material name="qbhand/middle">
        <color rgba="0.35 0.35 0.35 1.0"/>
      </material>
    </visual>
    <collision>
      <origin rpy="0 0 0" xyz="0 0 0"/>
      <geometry>
        <mesh filename="../meshes/qbhand/ph_short_yupzfront1.STL" scale="1 1 1"/>
      </geometry>
    </collision>
  </link>
  <joint name="left_qbhand_index_distal_joint" type="revolute">
    <origin rpy="0 0 0" xyz="0.009 0 0"/>
    <parent link="left_qbhand_index_middle_link"/>
    <child link="left_qbhand_index_distal_virtual_link"/>
    <axis xyz="0 0 -1"/>
    <dynamics damping="0.0" friction="0.0"/>
    <limit effort="100" lower="0.0" upper="0.785" velocity="100"/>
    <mimic joint="left_qbhand_synergy_joint" multiplier="0.785"/>
  </joint>
  <link name="left_qbhand_index_distal_virtual_link">
    <inertial>
      <origin rpy="0 0 0" xyz="0 0 0"/>
      <mass value="1e-4"/>
      <inertia ixx="1e-9" ixy="0.0" ixz="0.0" iyy="1e-9" iyz="0.0" izz="1e-9"/>
    </inertial>
  </link>
  <joint name="left_qbhand_index_distal_virtual_joint" type="revolute">
    <origin rpy="0 0 0" xyz="0.013 0 0"/>
    <parent link="left_qbhand_index_distal_virtual_link"/>
    <child link="left_qbhand_index_distal_link"/>
    <axis xyz="0 0 -1"/>
    <dynamics damping="0.0" friction="0.0"/>
    <limit effort="100" lower="0.0" upper="0.785" velocity="100"/>
    <mimic joint="left_qbhand_index_distal_joint" multiplier="1.0"/>
  </joint>
  <link name="left_qbhand_index_distal_link">
    <inertial>
      <mass value="0.009"/>
      <origin rpy="0 0 0" xyz="8.8025467e-03 -1.7219289e-03 0.0"/>
      <inertia ixx="2.6586142e-07" ixy="1.2416847e-08" ixz="0.0" iyy="5.9935767e-07" iyz="0.0" izz="6.6781963e-07"/>
    </inertial>
    <visual>
      <origin rpy="0 0 0" xyz="0 0 0"/>
      <geometry>
        <mesh filename="../meshes/qbhand/ph_distal_yupzfront1.STL" scale="1 1 1"/>
      </geometry>
      <material name="qbhand/distal">
        <color rgba="0.35 0.35 0.35 1.0"/>
      </material>
    </visual>
    <collision>
      <origin rpy="0 0 0" xyz="0 0 0"/>
      <geometry>
        <mesh filename="../meshes/qbhand/ph_distal_yupzfront1.STL" scale="1 1 1"/>
      </geometry>
    </collision>
  </link>
  <joint name="left_qbhand_middle_knuckle_joint" type="revolute">
    <origin rpy="0 3.14 -1.57" xyz="0 0 -0.014"/>
    <parent link="left_qbhand_palm_link"/>
    <child link="left_qbhand_middle_knuckle_link"/>
    <axis xyz="0 0 -1"/>
    <dynamics damping="0.0" friction="0.0"/>
    <limit effort="100" lower="-0.524" upper="0.524" velocity="100"/>
    <mimic joint="left_qbhand_synergy_joint" multiplier="0.0"/>
  </joint>
  <link name="left_qbhand_middle_knuckle_link">
    <inertial>
      <mass value="0.0095"/>
      <origin rpy="0 0 0" xyz="4.2753603e-04  0.0 -1.4321738e-03"/>
      <inertia ixx="6.4337303e-07" ixy="0.0" ixz="-3.9373913e-08" iyy="1.1253771e-06" iyz="0.0" izz="7.2336948e-07"/>
    </inertial>
    <visual>
      <origin rpy="0 0 0" xyz="0 0 0"/>
      <geometry>
        <mesh filename="../meshes/qbhand/ph_knuckle_yupzfront1.STL" scale="1 1 1"/>
      </geometry>
      <material name="qbhand/knuckle">
        <color rgba="0.35 0.35 0.35 1.0"/>
      </material>
    </visual>
    <collision>
      <origin rpy="0 0 0" xyz="0 0 0"/>
      <geometry>
        <mesh filename="../meshes/qbhand/ph_knuckle_yupzfront1.STL" scale="1 1 1"/>
      </geometry>
    </collision>
  </link>
  <joint name="left_qbhand_middle_proximal_joint" type="revolute">
    <origin rpy="1.57 0 0" xyz="0.009 0 0"/>
    <parent link="left_qbhand_middle_knuckle_link"/>
    <child link="left_qbhand_middle_proximal_virtual_link"/>
    <axis xyz="0 0 -1"/>
    <dynamics damping="0.0" friction="0.0"/>
    <limit effort="100" lower="0.0" upper="0.785" velocity="100"/>
    <mimic joint="left_qbhand_synergy_joint" multiplier="0.785"/>
  </joint>
  <link name="left_qbhand_middle_proximal_virtual_link">
    <inertial>
      <origin rpy="0 0 0" xyz="0 0 0"/>
      <mass value="1e-4"/>
      <inertia ixx="1e-9" ixy="0.0" ixz="0.0" iyy="1e-9" iyz="0.0" izz="1e-9"/>
    </inertial>
  </link>
  <joint name="left_qbhand_middle_proximal_virtual_joint" type="revolute">
    <origin rpy="0 0 0" xyz="0.013 0 0"/>
    <parent link="left_qbhand_middle_proximal_virtual_link"/>
    <child link="left_qbhand_middle_proximal_link"/>
    <axis xyz="0 0 -1"/>
    <dynamics damping="0.0" friction="0.0"/>
    <limit effort="100" lower="0.0" upper="0.785" velocity="100"/>
    <mimic joint="left_qbhand_middle_proximal_joint" multiplier="1.0"/>
  </joint>
  <link name="left_qbhand_middle_proximal_link">
    <inertial>
      <mass value="0.0082"/>
      <origin rpy="0 0 0" xyz="8.7707437e-03 -1.7863138e-03 0.0"/>
      <inertia ixx="2.2722068e-07" ixy="1.1586053e-08" ixz="0.0" iyy="5.5947233e-07" iyz="0.0" izz="5.9562195e-07"/>
    </inertial>
    <visual>
      <origin rpy="0 0 0" xyz="0 0 0"/>
      <geometry>
        <mesh filename="../meshes/qbhand/ph_medium_yupzfront1.STL" scale="1 1 1"/>
      </geometry>
      <material name="qbhand/proximal">
        <color rgba="0.35 0.35 0.35 1.0"/>
      </material>
    </visual>
    <collision>
      <origin rpy="0 0 0" xyz="0 0 0"/>
      <geometry>
        <mesh filename="../meshes/qbhand/ph_medium_yupzfront1.STL" scale="1 1 1"/>
      </geometry>
    </collision>
  </link>
  <joint name="left_qbhand_middle_middle_joint" type="revolute">
    <origin rpy="0 0 0" xyz="0.017 0 0"/>
    <parent link="left_qbhand_middle_proximal_link"/>
    <child link="left_qbhand_middle_middle_virtual_link"/>
    <axis xyz="0 0 -1"/>
    <dynamics damping="0.0" friction="0.0"/>
    <limit effort="100" lower="0.0" upper="0.785" velocity="100"/>
    <mimic joint="left_qbhand_synergy_joint" multiplier="0.785"/>
  </joint>
  <link name="left_qbhand_middle_middle_virtual_link">
    <inertial>
      <origin rpy="0 0 0" xyz="0 0 0"/>
      <mass value="1e-4"/>
      <inertia ixx="1e-9" ixy="0.0" ixz="0.0" iyy="1e-9" iyz="0.0" izz="1e-9"/>
    </inertial>
  </link>
  <joint name="left_qbhand_middle_middle_virtual_joint" type="revolute">
    <origin rpy="0 0 0" xyz="0.013 0 0"/>
    <parent link="left_qbhand_middle_middle_virtual_link"/>
    <child link="left_qbhand_middle_middle_link"/>
    <axis xyz="0 0 -1"/>
    <dynamics damping="0.0" friction="0.0"/>
    <limit effort="100" lower="0.0" upper="0.785" velocity="100"/>
    <mimic joint="left_qbhand_middle_middle_joint" multiplier="1.0"/>
  </joint>
  <link name="left_qbhand_middle_middle_link">
    <inertial>
      <mass value="0.0063"/>
      <origin rpy="0 0 0" xyz="4.7601567e-03 -1.3786947e-03 0.0"/>
      <inertia ixx="1.8024201e-07" ixy="5.756798e-09" ixz="0.0" iyy="2.3516266e-07" iyz="0.0" izz="2.691504e-07"/>
    </inertial>
    <visual>
      <origin rpy="0 0 0" xyz="0 0 0"/>
      <geometry>
        <mesh filename="../meshes/qbhand/ph_short_yupzfront1.STL" scale="1 1 1"/>
      </geometry>
      <material name="qbhand/middle">
        <color rgba="0.35 0.35 0.35 1.0"/>
      </material>
    </visual>
    <collision>
      <origin rpy="0 0 0" xyz="0 0 0"/>
      <geometry>
        <mesh filename="../meshes/qbhand/ph_short_yupzfront1.STL" scale="1 1 1"/>
      </geometry>
    </collision>
  </link>
  <joint name="left_qbhand_middle_distal_joint" type="revolute">
    <origin rpy="0 0 0" xyz="0.009 0 0"/>
    <parent link="left_qbhand_middle_middle_link"/>
    <child link="left_qbhand_middle_distal_virtual_link"/>
    <axis xyz="0 0 -1"/>
    <dynamics damping="0.0" friction="0.0"/>
    <limit effort="100" lower="0.0" upper="0.785" velocity="100"/>
    <mimic joint="left_qbhand_synergy_joint" multiplier="0.785"/>
  </joint>
  <link name="left_qbhand_middle_distal_virtual_link">
    <inertial>
      <origin rpy="0 0 0" xyz="0 0 0"/>
      <mass value="1e-4"/>
      <inertia ixx="1e-9" ixy="0.0" ixz="0.0" iyy="1e-9" iyz="0.0" izz="1e-9"/>
    </inertial>
  </link>
  <joint name="left_qbhand_middle_distal_virtual_joint" type="revolute">
    <origin rpy="0 0 0" xyz="0.013 0 0"/>
    <parent link="left_qbhand_middle_distal_virtual_link"/>
    <child link="left_qbhand_middle_distal_link"/>
    <axis xyz="0 0 -1"/>
    <dynamics damping="0.0" friction="0.0"/>
    <limit effort="100" lower="0.0" upper="0.785" velocity="100"/>
    <mimic joint="left_qbhand_middle_distal_joint" multiplier="1.0"/>
  </joint>
  <link name="left_qbhand_middle_distal_link">
    <inertial>
      <mass value="0.009"/>
      <origin rpy="0 0 0" xyz="8.8025467e-03 -1.7219289e-03 0.0"/>
      <inertia ixx="2.6586142e-07" ixy="1.2416847e-08" ixz="0.0" iyy="5.9935767e-07" iyz="0.0" izz="6.6781963e-07"/>
    </inertial>
    <visual>
      <origin rpy="0 0 0" xyz="0 0 0"/>
      <geometry>
        <mesh filename="../meshes/qbhand/ph_distal_yupzfront1.STL" scale="1 1 1"/>
      </geometry>
      <material name="qbhand/distal">
        <color rgba="0.35 0.35 0.35 1.0"/>
      </material>
    </visual>
    <collision>
      <origin rpy="0 0 0" xyz="0 0 0"/>
      <geometry>
        <mesh filename="../meshes/qbhand/ph_distal_yupzfront1.STL" scale="1 1 1"/>
      </geometry>
    </collision>
  </link>
  <joint name="left_qbhand_ring_knuckle_joint" type="revolute">
    <origin rpy="0 3.14 -1.57" xyz="0.02 -0.007 -0.014"/>
    <parent link="left_qbhand_palm_link"/>
    <child link="left_qbhand_ring_knuckle_link"/>
    <axis xyz="0 0 -1"/>
    <dynamics damping="0.0" friction="0.0"/>
    <limit effort="100" lower="-0.524" upper="0.524" velocity="100"/>
    <mimic joint="left_qbhand_synergy_joint" multiplier="-0.2"/>
  </joint>
  <link name="left_qbhand_ring_knuckle_link">
    <inertial>
      <mass value="0.0095"/>
      <origin rpy="0 0 0" xyz="4.2753603e-04  0.0 -1.4321738e-03"/>
      <inertia ixx="6.4337303e-07" ixy="0.0" ixz="-3.9373913e-08" iyy="1.1253771e-06" iyz="0.0" izz="7.2336948e-07"/>
    </inertial>
    <visual>
      <origin rpy="0 0 0" xyz="0 0 0"/>
      <geometry>
        <mesh filename="../meshes/qbhand/ph_knuckle_yupzfront1.STL" scale="1 1 1"/>
      </geometry>
      <material name="qbhand/knuckle">
        <color rgba="0.35 0.35 0.35 1.0"/>
      </material>
    </visual>
    <collision>
      <origin rpy="0 0 0" xyz="0 0 0"/>
      <geometry>
        <mesh filename="../meshes/qbhand/ph_knuckle_yupzfront1.STL" scale="1 1 1"/>
      </geometry>
    </collision>
  </link>
  <joint name="left_qbhand_ring_proximal_joint" type="revolute">
    <origin rpy="1.57 0 0" xyz="0.009 0 0"/>
    <parent link="left_qbhand_ring_knuckle_link"/>
    <child link="left_qbhand_ring_proximal_virtual_link"/>
    <axis xyz="0 0 -1"/>
    <dynamics damping="0.0" friction="0.0"/>
    <limit effort="100" lower="0.0" upper="0.785" velocity="100"/>
    <mimic joint="left_qbhand_synergy_joint" multiplier="0.785"/>
  </joint>
  <link name="left_qbhand_ring_proximal_virtual_link">
    <inertial>
      <origin rpy="0 0 0" xyz="0 0 0"/>
      <mass value="1e-4"/>
      <inertia ixx="1e-9" ixy="0.0" ixz="0.0" iyy="1e-9" iyz="0.0" izz="1e-9"/>
    </inertial>
  </link>
  <joint name="left_qbhand_ring_proximal_virtual_joint" type="revolute">
    <origin rpy="0 0 0" xyz="0.013 0 0"/>
    <parent link="left_qbhand_ring_proximal_virtual_link"/>
    <child link="left_qbhand_ring_proximal_link"/>
    <axis xyz="0 0 -1"/>
    <dynamics damping="0.0" friction="0.0"/>
    <limit effort="100" lower="0.0" upper="0.785" velocity="100"/>
    <mimic joint="left_qbhand_ring_proximal_joint" multiplier="1.0"/>
  </joint>
  <link name="left_qbhand_ring_proximal_link">
    <inertial>
      <mass value="0.0082"/>
      <origin rpy="0 0 0" xyz="8.7707437e-03 -1.7863138e-03 0.0"/>
      <inertia ixx="2.2722068e-07" ixy="1.1586053e-08" ixz="0.0" iyy="5.5947233e-07" iyz="0.0" izz="5.9562195e-07"/>
    </inertial>
    <visual>
      <origin rpy="0 0 0" xyz="0 0 0"/>
      <geometry>
        <mesh filename="../meshes/qbhand/ph_medium_yupzfront1.STL" scale="1 1 1"/>
      </geometry>
      <material name="qbhand/proximal">
        <color rgba="0.35 0.35 0.35 1.0"/>
      </material>
    </visual>
    <collision>
      <origin rpy="0 0 0" xyz="0 0 0"/>
      <geometry>
        <mesh filename="../meshes/qbhand/ph_medium_yupzfront1.STL" scale="1 1 1"/>
      </geometry>
    </collision>
  </link>
  <joint name="left_qbhand_ring_middle_joint" type="revolute">
    <origin rpy="0 0 0" xyz="0.017 0 0"/>
    <parent link="left_qbhand_ring_proximal_link"/>
    <child link="left_qbhand_ring_middle_virtual_link"/>
    <axis xyz="0 0 -1"/>
    <dynamics damping="0.0" friction="0.0"/>
    <limit effort="100" lower="0.0" upper="0.785" velocity="100"/>
    <mimic joint="left_qbhand_synergy_joint" multiplier="0.785"/>
  </joint>
  <link name="left_qbhand_ring_middle_virtual_link">
    <inertial>
      <origin rpy="0 0 0" xyz="0 0 0"/>
      <mass value="1e-4"/>
      <inertia ixx="1e-9" ixy="0.0" ixz="0.0" iyy="1e-9" iyz="0.0" izz="1e-9"/>
    </inertial>
  </link>
  <joint name="left_qbhand_ring_middle_virtual_joint" type="revolute">
    <origin rpy="0 0 0" xyz="0.013 0 0"/>
    <parent link="left_qbhand_ring_middle_virtual_link"/>
    <child link="left_qbhand_ring_middle_link"/>
    <axis xyz="0 0 -1"/>
    <dynamics damping="0.0" friction="0.0"/>
    <limit effort="100" lower="0.0" upper="0.785" velocity="100"/>
    <mimic joint="left_qbhand_ring_middle_joint" multiplier="1.0"/>
  </joint>
  <link name="left_qbhand_ring_middle_link">
    <inertial>
      <mass value="0.0063"/>
      <origin rpy="0 0 0" xyz="4.7601567e-03 -1.3786947e-03 0.0"/>
      <inertia ixx="1.8024201e-07" ixy="5.756798e-09" ixz="0.0" iyy="2.3516266e-07" iyz="0.0" izz="2.691504e-07"/>
    </inertial>
    <visual>
      <origin rpy="0 0 0" xyz="0 0 0"/>
      <geometry>
        <mesh filename="../meshes/qbhand/ph_short_yupzfront1.STL" scale="1 1 1"/>
      </geometry>
      <material name="qbhand/middle">
        <color rgba="0.35 0.35 0.35 1.0"/>
      </material>
    </visual>
    <collision>
      <origin rpy="0 0 0" xyz="0 0 0"/>
      <geometry>
        <mesh filename="../meshes/qbhand/ph_short_yupzfront1.STL" scale="1 1 1"/>
      </geometry>
    </collision>
  </link>
  <joint name="left_qbhand_ring_distal_joint" type="revolute">
    <origin rpy="0 0 0" xyz="0.009 0 0"/>
    <parent link="left_qbhand_ring_middle_link"/>
    <child link="left_qbhand_ring_distal_virtual_link"/>
    <axis xyz="0 0 -1"/>
    <dynamics damping="0.0" friction="0.0"/>
    <limit effort="100" lower="0.0" upper="0.785" velocity="100"/>
    <mimic joint="left_qbhand_synergy_joint" multiplier="0.785"/>
  </joint>
  <link name="left_qbhand_ring_distal_virtual_link">
    <inertial>
      <origin rpy="0 0 0" xyz="0 0 0"/>
      <mass value="1e-4"/>
      <inertia ixx="1e-9" ixy="0.0" ixz="0.0" iyy="1e-9" iyz="0.0" izz="1e-9"/>
    </inertial>
  </link>
  <joint name="left_qbhand_ring_distal_virtual_joint" type="revolute">
    <origin rpy="0 0 0" xyz="0.013 0 0"/>
    <parent link="left_qbhand_ring_distal_virtual_link"/>
    <child link="left_qbhand_ring_distal_link"/>
    <axis xyz="0 0 -1"/>
    <dynamics damping="0.0" friction="0.0"/>
    <limit effort="100" lower="0.0" upper="0.785" velocity="100"/>
    <mimic joint="left_qbhand_ring_distal_joint" multiplier="1.0"/>
  </joint>
  <link name="left_qbhand_ring_distal_link">
    <inertial>
      <mass value="0.009"/>
      <origin rpy="0 0 0" xyz="8.8025467e-03 -1.7219289e-03 0.0"/>
      <inertia ixx="2.6586142e-07" ixy="1.2416847e-08" ixz="0.0" iyy="5.9935767e-07" iyz="0.0" izz="6.6781963e-07"/>
    </inertial>
    <visual>
      <origin rpy="0 0 0" xyz="0 0 0"/>
      <geometry>
        <mesh filename="../meshes/qbhand/ph_distal_yupzfront1.STL" scale="1 1 1"/>
      </geometry>
      <material name="qbhand/distal">
        <color rgba="0.35 0.35 0.35 1.0"/>
      </material>
    </visual>
    <collision>
      <origin rpy="0 0 0" xyz="0 0 0"/>
      <geometry>
        <mesh filename="../meshes/qbhand/ph_distal_yupzfront1.STL" scale="1 1 1"/>
      </geometry>
    </collision>
  </link>
  <joint name="left_qbhand_little_knuckle_joint" type="revolute">
    <origin rpy="0 3.14 -1.57" xyz="0.04 -0.012 -0.014"/>
    <parent link="left_qbhand_palm_link"/>
    <child link="left_qbhand_little_knuckle_link"/>
    <axis xyz="0 0 -1"/>
    <dynamics damping="0.0" friction="0.0"/>
    <limit effort="100" lower="-0.524" upper="0.524" velocity="100"/>
    <mimic joint="left_qbhand_synergy_joint" multiplier="-0.4"/>
  </joint>
  <link name="left_qbhand_little_knuckle_link">
    <inertial>
      <mass value="0.0095"/>
      <origin rpy="0 0 0" xyz="4.2753603e-04  0.0 -1.4321738e-03"/>
      <inertia ixx="6.4337303e-07" ixy="0.0" ixz="-3.9373913e-08" iyy="1.1253771e-06" iyz="0.0" izz="7.2336948e-07"/>
    </inertial>
    <visual>
      <origin rpy="0 0 0" xyz="0 0 0"/>
      <geometry>
        <mesh filename="../meshes/qbhand/ph_knuckle_yupzfront1.STL" scale="1 1 1"/>
      </geometry>
      <material name="qbhand/knuckle">
        <color rgba="0.35 0.35 0.35 1.0"/>
      </material>
    </visual>
    <collision>
      <origin rpy="0 0 0" xyz="0 0 0"/>
      <geometry>
        <mesh filename="../meshes/qbhand/ph_knuckle_yupzfront1.STL" scale="1 1 1"/>
      </geometry>
    </collision>
  </link>
  <joint name="left_qbhand_little_proximal_joint" type="revolute">
    <origin rpy="1.57 0 0" xyz="0.009 0 0"/>
    <parent link="left_qbhand_little_knuckle_link"/>
    <child link="left_qbhand_little_proximal_virtual_link"/>
    <axis xyz="0 0 -1"/>
    <dynamics damping="0.0" friction="0.0"/>
    <limit effort="100" lower="0.0" upper="0.785" velocity="100"/>
    <mimic joint="left_qbhand_synergy_joint" multiplier="0.785"/>
  </joint>
  <link name="left_qbhand_little_proximal_virtual_link">
    <inertial>
      <origin rpy="0 0 0" xyz="0 0 0"/>
      <mass value="1e-4"/>
      <inertia ixx="1e-9" ixy="0.0" ixz="0.0" iyy="1e-9" iyz="0.0" izz="1e-9"/>
    </inertial>
  </link>
  <joint name="left_qbhand_little_proximal_virtual_joint" type="revolute">
    <origin rpy="0 0 0" xyz="0.013 0 0"/>
    <parent link="left_qbhand_little_proximal_virtual_link"/>
    <child link="left_qbhand_little_proximal_link"/>
    <axis xyz="0 0 -1"/>
    <dynamics damping="0.0" friction="0.0"/>
    <limit effort="100" lower="0.0" upper="0.785" velocity="100"/>
    <mimic joint="left_qbhand_little_proximal_joint" multiplier="1.0"/>
  </joint>
  <link name="left_qbhand_little_proximal_link">
    <inertial>
      <mass value="0.0063"/>
      <origin rpy="0 0 0" xyz="4.7601567e-03 -1.3786947e-03 0.0"/>
      <inertia ixx="1.8024201e-07" ixy="5.756798e-09" ixz="0.0" iyy="2.3516266e-07" iyz="0.0" izz="2.691504e-07"/>
    </inertial>
    <visual>
      <origin rpy="0 0 0" xyz="0 0 0"/>
      <geometry>
        <mesh filename="../meshes/qbhand/ph_short_yupzfront1.STL" scale="1 1 1"/>
      </geometry>
      <material name="qbhand/proximal">
        <color rgba="0.35 0.35 0.35 1.0"/>
      </material>
    </visual>
    <collision>
      <origin rpy="0 0 0" xyz="0 0 0"/>
      <geometry>
        <mesh filename="../meshes/qbhand/ph_short_yupzfront1.STL" scale="1 1 1"/>
      </geometry>
    </collision>
  </link>
  <joint name="left_qbhand_little_middle_joint" type="revolute">
    <origin rpy="0 0 0" xyz="0.009 0 0"/>
    <parent link="left_qbhand_little_proximal_link"/>
    <child link="left_qbhand_little_middle_virtual_link"/>
    <axis xyz="0 0 -1"/>
    <dynamics damping="0.0" friction="0.0"/>
    <limit effort="100" lower="0.0" upper="0.785" velocity="100"/>
    <mimic joint="left_qbhand_synergy_joint" multiplier="0.785"/>
  </joint>
  <link name="left_qbhand_little_middle_virtual_link">
    <inertial>
      <origin rpy="0 0 0" xyz="0 0 0"/>
      <mass value="1e-4"/>
      <inertia ixx="1e-9" ixy="0.0" ixz="0.0" iyy="1e-9" iyz="0.0" izz="1e-9"/>
    </inertial>
  </link>
  <joint name="left_qbhand_little_middle_virtual_joint" type="revolute">
    <origin rpy="0 0 0" xyz="0.013 0 0"/>
    <parent link="left_qbhand_little_middle_virtual_link"/>
    <child link="left_qbhand_little_middle_link"/>
    <axis xyz="0 0 -1"/>
    <dynamics damping="0.0" friction="0.0"/>
    <limit effort="100" lower="0.0" upper="0.785" velocity="100"/>
    <mimic joint="left_qbhand_little_middle_joint" multiplier="1.0"/>
  </joint>
  <link name="left_qbhand_little_middle_link">
    <inertial>
      <mass value="0.0063"/>
      <origin rpy="0 0 0" xyz="4.7601567e-03 -1.3786947e-03 0.0"/>
      <inertia ixx="1.8024201e-07" ixy="5.756798e-09" ixz="0.0" iyy="2.3516266e-07" iyz="0.0" izz="2.691504e-07"/>
    </inertial>
    <visual>
      <origin rpy="0 0 0" xyz="0 0 0"/>
      <geometry>
        <mesh filename="../meshes/qbhand/ph_short_yupzfront1.STL" scale="1 1 1"/>
      </geometry>
      <material name="qbhand/middle">
        <color rgba="0.35 0.35 0.35 1.0"/>
      </material>
    </visual>
    <collision>
      <origin rpy="0 0 0" xyz="0 0 0"/>
      <geometry>
        <mesh filename="../meshes/qbhand/ph_short_yupzfront1.STL" scale="1 1 1"/>
      </geometry>
    </collision>
  </link>
  <joint name="left_qbhand_little_distal_joint" type="revolute">
    <origin rpy="0 0 0" xyz="0.009 0 0"/>
    <parent link="left_qbhand_little_middle_link"/>
    <child link="left_qbhand_little_distal_virtual_link"/>
    <axis xyz="0 0 -1"/>
    <dynamics damping="0.0" friction="0.0"/>
    <limit effort="100" lower="0.0" upper="0.785" velocity="100"/>
    <mimic joint="left_qbhand_synergy_joint" multiplier="0.785"/>
  </joint>
  <link name="left_qbhand_little_distal_virtual_link">
    <inertial>
      <origin rpy="0 0 0" xyz="0 0 0"/>
      <mass value="1e-4"/>
      <inertia ixx="1e-9" ixy="0.0" ixz="0.0" iyy="1e-9" iyz="0.0" izz="1e-9"/>
    </inertial>
  </link>
  <joint name="left_qbhand_little_distal_virtual_joint" type="revolute">
    <origin rpy="0 0 0" xyz="0.013 0 0"/>
    <parent link="left_qbhand_little_distal_virtual_link"/>
    <child link="left_qbhand_little_distal_link"/>
    <axis xyz="0 0 -1"/>
    <dynamics damping="0.0" friction="0.0"/>
    <limit effort="100" lower="0.0" upper="0.785" velocity="100"/>
    <mimic joint="left_qbhand_little_distal_joint" multiplier="1.0"/>
  </joint>
  <link name="left_qbhand_little_distal_link">
    <inertial>
      <mass value="0.009"/>
      <origin rpy="0 0 0" xyz="8.8025467e-03 -1.7219289e-03 0.0"/>
      <inertia ixx="2.6586142e-07" ixy="1.2416847e-08" ixz="0.0" iyy="5.9935767e-07" iyz="0.0" izz="6.6781963e-07"/>
    </inertial>
    <visual>
      <origin rpy="0 0 0" xyz="0 0 0"/>
      <geometry>
        <mesh filename="../meshes/qbhand/ph_distal_yupzfront1.STL" scale="1 1 1"/>
      </geometry>
      <material name="qbhand/distal">
        <color rgba="0.35 0.35 0.35 1.0"/>
      </material>
    </visual>
    <collision>
      <origin rpy="0 0 0" xyz="0 0 0"/>
      <geometry>
        <mesh filename="../meshes/qbhand/ph_distal_yupzfront1.STL" scale="1 1 1"/>
      </geometry>
    </collision>
  </link>
  <joint name="left_qbhand_end_effector_fixed_joint" type="fixed">
    <origin rpy="-1.57 0 0" xyz="-0.03 0.060 0.142"/>
    <parent link="left_qbhand_base_link"/>
    <child link="left_qbhand_end_effector_link"/>
  </joint>
  <link name="left_qbhand_end_effector_link"/>
  <joint name="panda_right_joint_torso_end" type="fixed">
    <parent link="torso_end"/>
    <child link="panda_right_link0"/>
    <origin rpy="1.3685238493647454 0.913218224774749 0.6168337646727412" xyz="-0.08537 -0.07009 0.2535"/>
  </joint>
  <link name="panda_right_link0">
    <visual>
      <origin rpy="0 0 0" xyz="0 0 0"/>
      <geometry>
        <mesh filename="../meshes/franka/visual/link0.dae"/>
      </geometry>
    </visual>
    <collision>
      <origin rpy="0 0 0" xyz="0 0 0"/>
      <geometry>
        <mesh filename="../meshes/franka/collision/link0.stl"/>
      </geometry>
    </collision>
    <inertial>
      <!-- Estimated guesses from CAD -->
      <origin rpy="0 0 0" xyz="-0.041018 -0.00014 0.049974"/>
      <mass value="0.629769"/>
      <inertia ixx="0.00315" ixy="8.2904E-07" ixz="0.00015" iyy="0.00388" iyz="8.2299E-06" izz="0.004285"/>
    </inertial>
  </link>
  <link name="panda_right_link1">
    <visual>
      <origin rpy="0 0 0" xyz="0 0 0"/>
      <geometry>
        <mesh filename="../meshes/franka/visual/link1.dae"/>
      </geometry>
    </visual>
    <collision>
      <origin rpy="0 0 0" xyz="0 0 0"/>
      <geometry>
        <mesh filename="../meshes/franka/collision/link1.stl"/>
      </geometry>
    </collision>
    <inertial>
      <origin rpy="0 0 0" xyz="0.003875 0.002081 -0.04762"/>
      <mass value="4.970684"/>
      <inertia ixx="0.70337" ixy="-0.00013900" ixz="0.0067720" iyy="0.70661" iyz="0.019169" izz="0.0091170"/>
    </inertial>
  </link>
  <joint name="panda_right_joint1" type="revolute">
    <safety_controller k_position="100.0" k_velocity="40.0" soft_lower_limit="-2.8973" soft_upper_limit="2.8973"/>
    <origin rpy="0 0 0" xyz="0 0 0.333"/>
    <parent link="panda_right_link0"/>
    <child link="panda_right_link1"/>
    <axis xyz="0 0 1"/>
    <limit acceleration="15" effort="87" lower="-2.8973" upper="2.8973" velocity="2.1750"/>
    <dynamics D="1" K="7000" damping="0.003" friction="0.0" mu_coulomb="0" mu_viscous="16"/>
  </joint>
  <link name="panda_right_link2">
    <visual>
      <origin rpy="0 0 0" xyz="0 0 0"/>
      <geometry>
        <mesh filename="../meshes/franka/visual/link2.dae"/>
      </geometry>
    </visual>
    <collision>
      <origin rpy="0 0 0" xyz="0 0 0"/>
      <geometry>
        <mesh filename="../meshes/franka/collision/link2.stl"/>
      </geometry>
    </collision>
    <inertial>
      <origin rpy="0 0 0" xyz=" -0.003141 -0.02872  0.003495"/>
      <mass value="0.646926"/>
      <inertia ixx="0.0079620" ixy="-3.9250e-3" ixz="1.0254e-02" iyy="2.8110e-02" iyz="7.0400e-04" izz="2.5995e-02"/>
    </inertial>
  </link>
  <joint name="panda_right_joint2" type="revolute">
    <safety_controller k_position="100.0" k_velocity="40.0" soft_lower_limit="-1.7628" soft_upper_limit="1.7628"/>
    <origin rpy="-1.5707963267948966 0 0" xyz="0 0 0"/>
    <parent link="panda_right_link1"/>
    <child link="panda_right_link2"/>
    <axis xyz="0 0 1"/>
    <limit acceleration="7.5" effort="87" lower="-1.7628" upper="1.7628" velocity="2.1750"/>
    <dynamics D="1" K="7000" damping="0.003" friction="0.0" mu_coulomb="0" mu_viscous="16"/>
  </joint>
  <link name="panda_right_link3">
    <visual>
      <origin rpy="0 0 0" xyz="0 0 0"/>
      <geometry>
        <mesh filename="../meshes/franka/visual/link3.dae"/>
      </geometry>
    </visual>
    <collision>
      <origin rpy="0 0 0" xyz="0 0 0"/>
      <geometry>
        <mesh filename="../meshes/franka/collision/link3.stl"/>
      </geometry>
    </collision>
    <inertial>
      <origin rpy="0 0 0" xyz="2.7518e-02 3.9252e-02 -6.6502e-02"/>
      <mass value="3.228604"/>
      <inertia ixx="3.7242e-02" ixy="-4.7610e-03" ixz="-1.1396e-02" iyy="3.6155e-02" iyz="-1.2805e-02" izz="1.0830e-02"/>
    </inertial>
  </link>
  <joint name="panda_right_joint3" type="revolute">
    <safety_controller k_position="100.0" k_velocity="40.0" soft_lower_limit="-2.8973" soft_upper_limit="2.8973"/>
    <origin rpy="1.5707963267948966 0 0" xyz="0 -0.316 0"/>
    <parent link="panda_right_link2"/>
    <child link="panda_right_link3"/>
    <axis xyz="0 0 1"/>
    <limit acceleration="12.5" effort="87" lower="-2.8973" upper="2.8973" velocity="2.1750"/>
    <dynamics D="1" K="7000" damping="0.003" friction="0.0" mu_coulomb="0" mu_viscous="16"/>
  </joint>
  <link name="panda_right_link4">
    <visual>
      <origin rpy="0 0 0" xyz="0 0 0"/>
      <geometry>
        <mesh filename="../meshes/franka/visual/link4.dae"/>
      </geometry>
    </visual>
    <collision>
      <origin rpy="0 0 0" xyz="0 0 0"/>
      <geometry>
        <mesh filename="../meshes/franka/collision/link4.stl"/>
      </geometry>
    </collision>
    <inertial>
      <origin rpy="0 0 0" xyz="-5.317e-02 1.04419e-01 2.7454e-02"/>
      <mass value="3.587895"/>
      <inertia ixx="2.5853e-02" ixy="7.7960e-03" ixz="-1.3320e-03" iyy="1.9552e-02" iyz="8.6410e-03" izz="2.8323e-02"/>
    </inertial>
  </link>
  <joint name="panda_right_joint4" type="revolute">
    <safety_controller k_position="100.0" k_velocity="40.0" soft_lower_limit="-3.0718" soft_upper_limit="-0.0698"/>
    <origin rpy="1.5707963267948966 0 0" xyz="0.0825 0 0"/>
    <parent link="panda_right_link3"/>
    <child link="panda_right_link4"/>
    <axis xyz="0 0 1"/>
    <limit acceleration="12.5" effort="87" lower="-3.0718" upper="-0.0698" velocity="2.1750"/>
    <dynamics D="1" K="7000" damping="0.003" friction="0.0" mu_coulomb="0" mu_viscous="16"/>
  </joint>
  <link name="panda_right_link5">
    <visual>
      <origin rpy="0 0 0" xyz="0 0 0"/>
      <geometry>
        <mesh filename="../meshes/franka/visual/link5.dae"/>
      </geometry>
    </visual>
    <collision>
      <origin rpy="0 0 0" xyz="0 0 0"/>
      <geometry>
        <mesh filename="../meshes/franka/collision/link5.stl"/>
      </geometry>
    </collision>
    <inertial>
      <origin rpy="0 0 0" xyz="-1.1953e-02 4.1065e-02 -3.8437e-02"/>
      <mass value="1.225946"/>
      <inertia ixx="3.5549e-02" ixy="-2.1170e-03" ixz="-4.0370e-03" iyy="2.9474e-02" iyz="2.2900e-04" izz="8.6270e-03"/>
    </inertial>
  </link>
  <joint name="panda_right_joint5" type="revolute">
    <safety_controller k_position="100.0" k_velocity="40.0" soft_lower_limit="-2.8973" soft_upper_limit="2.8973"/>
    <origin rpy="-1.5707963267948966 0 0" xyz="-0.0825 0.384 0"/>
    <parent link="panda_right_link4"/>
    <child link="panda_right_link5"/>
    <axis xyz="0 0 1"/>
    <limit acceleration="15" effort="12" lower="-2.8973" upper="2.8973" velocity="2.6100"/>
    <dynamics D="1" K="7000" damping="0.003" friction="0.0" mu_coulomb="0" mu_viscous="16"/>
  </joint>
  <link name="panda_right_link6">
    <visual>
      <origin rpy="0 0 0" xyz="0 0 0"/>
      <geometry>
        <mesh filename="../meshes/franka/visual/link6.dae"/>
      </geometry>
    </visual>
    <collision>
      <origin rpy="0 0 0" xyz="0 0 0"/>
      <geometry>
        <mesh filename="../meshes/franka/collision/link6.stl"/>
      </geometry>
    </collision>
    <inertial>
      <origin rpy="0 0 0" xyz="6.0149e-02 -1.4117e-02 -1.0517e-02"/>
      <mass value="1.666555"/>
      <inertia ixx="1.9640e-03" ixy="1.0900e-04" ixz="-1.1580e-03" iyy="4.3540e-03" iyz="3.4100e-04" izz="5.4330e-03"/>
    </inertial>
  </link>
  <joint name="panda_right_joint6" type="revolute">
    <safety_controller k_position="100.0" k_velocity="40.0" soft_lower_limit="-0.0175" soft_upper_limit="3.7525"/>
    <origin rpy="1.5707963267948966 0 0" xyz="0 0 0"/>
    <parent link="panda_right_link5"/>
    <child link="panda_right_link6"/>
    <axis xyz="0 0 1"/>
    <limit acceleration="20" effort="12" lower="-0.0175" upper="3.7525" velocity="2.6100"/>
    <dynamics D="1" K="7000" damping="0.003" friction="0.0" mu_coulomb="0" mu_viscous="16"/>
  </joint>
  <link name="panda_right_link7">
    <visual>
      <origin rpy="0 0 0" xyz="0 0 0"/>
      <geometry>
        <mesh filename="../meshes/franka/visual/link7.dae"/>
      </geometry>
    </visual>
    <collision>
      <origin rpy="0 0 0" xyz="0 0 0"/>
      <geometry>
        <mesh filename="../meshes/franka/collision/link7.stl"/>
      </geometry>
    </collision>
    <inertial>
      <origin rpy="0 0 0" xyz="1.0517e-02 -4.252e-03 6.1597e-02"/>
      <mass value="7.35522e-01"/>
      <inertia ixx="1.2516e-02" ixy="-4.2800e-04" ixz="-1.1960e-03" iyy="1.0027e-02" iyz="-7.4100e-04" izz="4.8150e-03"/>
    </inertial>
  </link>
  <joint name="panda_right_joint7" type="revolute">
    <safety_controller k_position="100.0" k_velocity="40.0" soft_lower_limit="-2.8973" soft_upper_limit="2.8973"/>
    <origin rpy="1.5707963267948966 0 0" xyz="0.088 0 0"/>
    <parent link="panda_right_link6"/>
    <child link="panda_right_link7"/>
    <axis xyz="0 0 1"/>
    <limit acceleration="20" effort="12" lower="-2.8973" upper="2.8973" velocity="2.6100"/>
    <dynamics D="1" K="7000" damping="0.003" friction="0.0" mu_coulomb="0" mu_viscous="16"/>
  </joint>
  <joint name="panda_right_end_effector_joint" type="fixed">
    <parent link="panda_right_link7"/>
    <child link="right_hand_root_link"/>
    <origin rpy="0 0 -0.7853981633974483" xyz="0 0 0.107"/>
  </joint>
  <link name="right_hand_root_link"/>
  <joint name="right_qbhand_flange_joint" type="fixed">
    <origin rpy="0 0 -2.3562" xyz="0 0 0"/>
    <parent link="right_hand_root_link"/>
    <child link="flange90_r"/>
  </joint>
  <link name="flange90_r">
    <visual>
      <origin rpy="0 0 0" xyz="0 0 0"/>
      <geometry>
        <mesh filename="../meshes/clover/visual/flange90_yup.dae"/>
      </geometry>
    </visual>
    <collision>
      <origin rpy="0 0 0" xyz="0 0 0"/>
      <geometry>
        <mesh filename="../meshes/clover/collision/flange90_yup.STL"/>
      </geometry>
    </collision>
  </link>
  <joint name="right_qbhand_base_fixed_joint" type="fixed">
    <origin rpy="1.5708 0 1.5708" xyz="0.046 0 0.038"/>
    <parent link="flange90_r"/>
    <child link="right_qbhand_base_link"/>
  </joint>
  <link name="right_qbhand_base_link">
    <inertial>
      <mass value="0.45"/>
      <origin rpy="0 0 0" xyz="0.0030 -0.0449 0.0135"/>
      <inertia ixx="0.00045" ixy="0.0" ixz="0.0" iyy="0.0006" iyz="0.0" izz="0.00025"/>
    </inertial>
    <visual>
      <origin rpy="0 0 0" xyz="0 0 0"/>
      <geometry>
        <mesh filename="../meshes/qbhand/flange_iso_04_yupzfront.STL" scale="1 1 1"/>
      </geometry>
      <material name="qbhand/base"/>
    </visual>
    <collision>
      <origin rpy="0 0 0" xyz="0 0 0"/>
      <geometry>
        <mesh filename="../meshes/qbhand/flange_iso_04_yupzfront.STL" scale="1 1 1"/>
      </geometry>
    </collision>
  </link>
  <joint name="right_qbhand_palm_fixed_joint" type="fixed">
    <origin rpy="1.57 0 0" xyz="-0.0045 0.0145 0.144"/>
    <parent link="right_qbhand_base_link"/>
    <child link="right_qbhand_palm_link"/>
  </joint>
  <link name="right_qbhand_palm_link">
    <inertial>
      <mass value="0.45"/>
      <origin rpy="0 0 0" xyz="0.0030 -0.0449 0.0135"/>
      <inertia ixx="0.00045" ixy="0.0" ixz="0.0" iyy="0.0006" iyz="0.0" izz="0.00025"/>
    </inertial>
    <visual>
      <origin rpy="0 0 0" xyz="0 0 0"/>
      <geometry>
        <mesh filename="../meshes/qbhand/palm_pinch_r_yupzfront2.STL" scale="1 1 1"/>
      </geometry>
      <material name="qbhand/palm"/>
    </visual>
    <collision>
      <origin rpy="0 0 0" xyz="0 0 0"/>
      <geometry>
        <mesh filename="../meshes/qbhand/palm_pinch_r.stl" scale="0.001 0.001 0.001"/>
      </geometry>
    </collision>
  </link>

  <joint name="right_qbhand_spoon_joint" type="fixed">
    <origin rpy="-1.57 3.14 -0.3" xyz="-0.05 0.01 -0.02"/>
    <parent link="right_qbhand_palm_link"/>
    <child link="spoon_link"/>
    <axis xyz="0 0 1"/>
    <dynamics damping="0.0" friction="0.0"/>
    <limit effort="100" lower="0.0" upper="1.571" velocity="100"/>
  </joint>
  <link name="spoon_link">
    <inertial>
      <mass value="0.01"/>
      <origin rpy="0 0 0" xyz="1.3071561e-02 2.7346340e-03 6.4090487e-04"/>
      <inertia ixx="3.5827953e-07" ixy="-2.0934657e-07" ixz="-6.8435459e-08" iyy="1.3882698e-06" iyz="-3.2001578e-08" izz="1.3570267e-06"/>
    </inertial>
    <visual>
      <origin rpy="0 0 0" xyz="0 0 0"/>
      <geometry>
        <mesh filename="../../objects/pan_spoon/spoon.obj" scale="1 1 1"/>
      </geometry>
      <material name="qbhand/spoon">
        <color rgba="0.35 0.35 0.35 1.0"/>
      </material>
    </visual>
    <collision>
      <origin rpy="0 0 0" xyz="0 0 0"/>
      <geometry>
        <mesh filename="../../objects/pan_spoon/spoon.obj" scale="1 1 1"/>
      </geometry>
    </collision>
  </link>
  <joint name="right_qbhand_synergy_joint" type="revolute">
    <origin rpy="0 0 0" xyz="0 0 0"/>
    <parent link="right_qbhand_palm_link"/>
    <child link="right_qbhand_synergy_tendon_virtual_link"/>
    <axis xyz="0 0 1"/>
    <dynamics damping="0.0" friction="0.0"/>
    <limit effort="100" lower="0.0" upper="1.0" velocity="100"/>
  </joint>
  <transmission name="right_qbhand_synergy_transmission">
    <type>transmission_interface/qbMoveTransmission</type>
    <joint name="right_qbhand_synergy_joint">
      <hardwareInterface>hardware_interface/EffortJointInterface</hardwareInterface>
    </joint>
    <actuator name="right_qbhand_synergy_joint">
      <hardwareInterface>hardware_interface/EffortJointInterface</hardwareInterface>
    </actuator>
  </transmission>
  <link name="right_qbhand_synergy_tendon_virtual_link">
    <inertial>
      <origin rpy="0 0 0" xyz="0 0 0"/>
      <mass value="1e-4"/>
      <inertia ixx="1e-9" ixy="0.0" ixz="0.0" iyy="1e-9" iyz="0.0" izz="1e-9"/>
    </inertial>
  </link>
  <joint name="right_qbhand_thumb_knuckle_joint" type="revolute">
    <origin rpy="-1.57 3.14 0.0" xyz="-0.044 -0.0465 -0.002"/>
    <parent link="right_qbhand_palm_link"/>
    <child link="right_qbhand_thumb_knuckle_link"/>
    <axis xyz="0 0 -1"/>
    <dynamics damping="0.0" friction="0.0"/>
    <limit effort="100" lower="0.0" upper="1.571" velocity="100"/>
    <mimic joint="right_qbhand_synergy_joint" multiplier="2.542"/>
  </joint>
  <link name="right_qbhand_thumb_knuckle_link">
    <inertial>
      <mass value="0.01"/>
      <origin rpy="0 0 0" xyz="1.3071561e-02 -2.7357764e-03 6.4347823e-04"/>
      <inertia ixx="3.5865978e-07" ixy="2.0944224e-07" ixz="-6.8657569e-08" iyy="1.3885564e-06" iyz="3.2170608e-08" izz="1.3571203e-06"/>
    </inertial>
    <visual>
      <origin rpy="0 0 0" xyz="0 0 0"/>
      <geometry>
        <mesh filename="../meshes/qbhand/ph_thumb_r_yupzfront1.STL" scale="1 1 1"/>
      </geometry>
      <material name="qbhand/knuckle"/>
    </visual>
    <collision>
      <origin rpy="0 0 0" xyz="0 0 0"/>
      <geometry>
        <mesh filename="../meshes/qbhand/ph_thumb_r_yupzfront1.STL" scale="1 1 1"/>
      </geometry>
    </collision>
  </link>
  <joint name="right_qbhand_thumb_proximal_joint" type="revolute">
    <origin rpy="-1.1415 0.0 0.0" xyz="0.0255 -0.0038 -0.00012"/>
    <parent link="right_qbhand_thumb_knuckle_link"/>
    <child link="right_qbhand_thumb_proximal_virtual_link"/>
    <axis xyz="0 0 -1"/>
    <dynamics damping="0.0" friction="0.0"/>
    <limit effort="100" lower="0.0" upper="0.785" velocity="100"/>
    <mimic joint="right_qbhand_synergy_joint" multiplier="0.785"/>
  </joint>
  <link name="right_qbhand_thumb_proximal_virtual_link">
    <inertial>
      <origin rpy="0 0 0" xyz="0 0 0"/>
      <mass value="1e-4"/>
      <inertia ixx="1e-9" ixy="0.0" ixz="0.0" iyy="1e-9" iyz="0.0" izz="1e-9"/>
    </inertial>
  </link>
  <joint name="right_qbhand_thumb_proximal_virtual_joint" type="revolute">
    <origin rpy="0 0 0" xyz="0.013 0 0"/>
    <parent link="right_qbhand_thumb_proximal_virtual_link"/>
    <child link="right_qbhand_thumb_proximal_link"/>
    <axis xyz="0 0 -1"/>
    <dynamics damping="0.0" friction="0.0"/>
    <limit effort="100" lower="0.0" upper="0.785" velocity="100"/>
    <mimic joint="right_qbhand_thumb_proximal_joint" multiplier="1.0"/>
  </joint>
  <link name="right_qbhand_thumb_proximal_link">
    <inertial>
      <mass value="0.0063"/>
      <origin rpy="0 0 0" xyz="4.7601567e-03 -1.3786947e-03 0.0"/>
      <inertia ixx="1.8024201e-07" ixy="5.756798e-09" ixz="0.0" iyy="2.3516266e-07" iyz="0.0" izz="2.691504e-07"/>
    </inertial>
    <visual>
      <origin rpy="0 0 0" xyz="0 0 0"/>
      <geometry>
        <mesh filename="../meshes/qbhand/ph_short_yupzfront1.STL" scale="1 1 1"/>
      </geometry>
      <material name="qbhand/proximal"/>
    </visual>
    <collision>
      <origin rpy="0 0 0" xyz="0 0 0"/>
      <geometry>
        <mesh filename="../meshes/qbhand/ph_short_yupzfront1.STL" scale="1 1 1"/>
      </geometry>
    </collision>
  </link>
  <joint name="right_qbhand_thumb_distal_joint" type="revolute">
    <origin rpy="0 0 0" xyz="0.009 0 0"/>
    <parent link="right_qbhand_thumb_proximal_link"/>
    <child link="right_qbhand_thumb_distal_virtual_link"/>
    <axis xyz="0 0 -1"/>
    <dynamics damping="0.0" friction="0.0"/>
    <limit effort="100" lower="0.0" upper="0.785" velocity="100"/>
    <mimic joint="right_qbhand_synergy_joint" multiplier="0.785"/>
  </joint>
  <link name="right_qbhand_thumb_distal_virtual_link">
    <inertial>
      <origin rpy="0 0 0" xyz="0 0 0"/>
      <mass value="1e-4"/>
      <inertia ixx="1e-9" ixy="0.0" ixz="0.0" iyy="1e-9" iyz="0.0" izz="1e-9"/>
    </inertial>
  </link>
  <joint name="right_qbhand_thumb_distal_virtual_joint" type="revolute">
    <origin rpy="0 0 0" xyz="0.013 0 0"/>
    <parent link="right_qbhand_thumb_distal_virtual_link"/>
    <child link="right_qbhand_thumb_distal_link"/>
    <axis xyz="0 0 -1"/>
    <dynamics damping="0.0" friction="0.0"/>
    <limit effort="100" lower="0.0" upper="0.785" velocity="100"/>
    <mimic joint="right_qbhand_thumb_distal_joint" multiplier="1.0"/>
  </joint>
  <link name="right_qbhand_thumb_distal_link">
    <inertial>
      <mass value="0.009"/>
      <origin rpy="0 0 0" xyz="8.8025467e-03 -1.7219289e-03 0.0"/>
      <inertia ixx="2.6586142e-07" ixy="1.2416847e-08" ixz="0.0" iyy="5.9935767e-07" iyz="0.0" izz="6.6781963e-07"/>
    </inertial>
    <visual>
      <origin rpy="0 0 0" xyz="0 0 0"/>
      <geometry>
        <mesh filename="../meshes/qbhand/ph_distal_yupzfront1.STL" scale="1 1 1"/>
      </geometry>
      <material name="qbhand/distal"/>
    </visual>
    <collision>
      <origin rpy="0 0 0" xyz="0 0 0"/>
      <geometry>
        <mesh filename="../meshes/qbhand/ph_distal_yupzfront1.STL" scale="1 1 1"/>
      </geometry>
    </collision>
  </link>
  <joint name="right_qbhand_index_knuckle_joint" type="revolute">
    <origin rpy="0 0 1.57" xyz="-0.02 -0.007 0.014"/>
    <parent link="right_qbhand_palm_link"/>
    <child link="right_qbhand_index_knuckle_link"/>
    <axis xyz="0 0 -1"/>
    <dynamics damping="0.0" friction="0.0"/>
    <limit effort="100" lower="-0.524" upper="0.524" velocity="100"/>
    <mimic joint="right_qbhand_synergy_joint" multiplier="-0.2"/>
  </joint>
  <link name="right_qbhand_index_knuckle_link">
    <inertial>
      <mass value="0.0095"/>
      <origin rpy="0 0 0" xyz="4.2753603e-04  0.0 -1.4321738e-03"/>
      <inertia ixx="6.4337303e-07" ixy="0.0" ixz="-3.9373913e-08" iyy="1.1253771e-06" iyz="0.0" izz="7.2336948e-07"/>
    </inertial>
    <visual>
      <origin rpy="0 0 0" xyz="0 0 0"/>
      <geometry>
        <mesh filename="../meshes/qbhand/ph_knuckle_yupzfront1.STL" scale="1 1 1"/>
      </geometry>
      <material name="qbhand/knuckle"/>
    </visual>
    <collision>
      <origin rpy="0 0 0" xyz="0 0 0"/>
      <geometry>
        <mesh filename="../meshes/qbhand/ph_knuckle_yupzfront1.STL" scale="1 1 1"/>
      </geometry>
    </collision>
  </link>
  <joint name="right_qbhand_index_proximal_joint" type="revolute">
    <origin rpy="1.57 0 0" xyz="0.009 0 0"/>
    <parent link="right_qbhand_index_knuckle_link"/>
    <child link="right_qbhand_index_proximal_virtual_link"/>
    <axis xyz="0 0 -1"/>
    <dynamics damping="0.0" friction="0.0"/>
    <limit effort="100" lower="0.0" upper="0.785" velocity="100"/>
    <mimic joint="right_qbhand_synergy_joint" multiplier="0.785"/>
  </joint>
  <link name="right_qbhand_index_proximal_virtual_link">
    <inertial>
      <origin rpy="0 0 0" xyz="0 0 0"/>
      <mass value="1e-4"/>
      <inertia ixx="1e-9" ixy="0.0" ixz="0.0" iyy="1e-9" iyz="0.0" izz="1e-9"/>
    </inertial>
  </link>
  <joint name="right_qbhand_index_proximal_virtual_joint" type="revolute">
    <origin rpy="0 0 0" xyz="0.013 0 0"/>
    <parent link="right_qbhand_index_proximal_virtual_link"/>
    <child link="right_qbhand_index_proximal_link"/>
    <axis xyz="0 0 -1"/>
    <dynamics damping="0.0" friction="0.0"/>
    <limit effort="100" lower="0.0" upper="0.785" velocity="100"/>
    <mimic joint="right_qbhand_index_proximal_joint" multiplier="1.0"/>
  </joint>
  <link name="right_qbhand_index_proximal_link">
    <inertial>
      <mass value="0.0082"/>
      <origin rpy="0 0 0" xyz="8.7707437e-03 -1.7863138e-03 0.0"/>
      <inertia ixx="2.2722068e-07" ixy="1.1586053e-08" ixz="0.0" iyy="5.5947233e-07" iyz="0.0" izz="5.9562195e-07"/>
    </inertial>
    <visual>
      <origin rpy="0 0 0" xyz="0 0 0"/>
      <geometry>
        <mesh filename="../meshes/qbhand/ph_medium_yupzfront1.STL" scale="1 1 1"/>
      </geometry>
      <material name="qbhand/proximal"/>
    </visual>
    <collision>
      <origin rpy="0 0 0" xyz="0 0 0"/>
      <geometry>
        <mesh filename="../meshes/qbhand/ph_medium_yupzfront1.STL" scale="1 1 1"/>
      </geometry>
    </collision>
  </link>
  <joint name="right_qbhand_index_middle_joint" type="revolute">
    <origin rpy="0 0 0" xyz="0.017 0 0"/>
    <parent link="right_qbhand_index_proximal_link"/>
    <child link="right_qbhand_index_middle_virtual_link"/>
    <axis xyz="0 0 -1"/>
    <dynamics damping="0.0" friction="0.0"/>
    <limit effort="100" lower="0.0" upper="0.785" velocity="100"/>
    <mimic joint="right_qbhand_synergy_joint" multiplier="0.785"/>
  </joint>
  <link name="right_qbhand_index_middle_virtual_link">
    <inertial>
      <origin rpy="0 0 0" xyz="0 0 0"/>
      <mass value="1e-4"/>
      <inertia ixx="1e-9" ixy="0.0" ixz="0.0" iyy="1e-9" iyz="0.0" izz="1e-9"/>
    </inertial>
  </link>
  <joint name="right_qbhand_index_middle_virtual_joint" type="revolute">
    <origin rpy="0 0 0" xyz="0.013 0 0"/>
    <parent link="right_qbhand_index_middle_virtual_link"/>
    <child link="right_qbhand_index_middle_link"/>
    <axis xyz="0 0 -1"/>
    <dynamics damping="0.0" friction="0.0"/>
    <limit effort="100" lower="0.0" upper="0.785" velocity="100"/>
    <mimic joint="right_qbhand_index_middle_joint" multiplier="1.0"/>
  </joint>
  <link name="right_qbhand_index_middle_link">
    <inertial>
      <mass value="0.0063"/>
      <origin rpy="0 0 0" xyz="4.7601567e-03 -1.3786947e-03 0.0"/>
      <inertia ixx="1.8024201e-07" ixy="5.756798e-09" ixz="0.0" iyy="2.3516266e-07" iyz="0.0" izz="2.691504e-07"/>
    </inertial>
    <visual>
      <origin rpy="0 0 0" xyz="0 0 0"/>
      <geometry>
        <mesh filename="../meshes/qbhand/ph_short_yupzfront1.STL" scale="1 1 1"/>
      </geometry>
      <material name="qbhand/middle"/>
    </visual>
    <collision>
      <origin rpy="0 0 0" xyz="0 0 0"/>
      <geometry>
        <mesh filename="../meshes/qbhand/ph_short_yupzfront1.STL" scale="1 1 1"/>
      </geometry>
    </collision>
  </link>
  <joint name="right_qbhand_index_distal_joint" type="revolute">
    <origin rpy="0 0 0" xyz="0.009 0 0"/>
    <parent link="right_qbhand_index_middle_link"/>
    <child link="right_qbhand_index_distal_virtual_link"/>
    <axis xyz="0 0 -1"/>
    <dynamics damping="0.0" friction="0.0"/>
    <limit effort="100" lower="0.0" upper="0.785" velocity="100"/>
    <mimic joint="right_qbhand_synergy_joint" multiplier="0.785"/>
  </joint>
  <link name="right_qbhand_index_distal_virtual_link">
    <inertial>
      <origin rpy="0 0 0" xyz="0 0 0"/>
      <mass value="1e-4"/>
      <inertia ixx="1e-9" ixy="0.0" ixz="0.0" iyy="1e-9" iyz="0.0" izz="1e-9"/>
    </inertial>
  </link>
  <joint name="right_qbhand_index_distal_virtual_joint" type="revolute">
    <origin rpy="0 0 0" xyz="0.013 0 0"/>
    <parent link="right_qbhand_index_distal_virtual_link"/>
    <child link="right_qbhand_index_distal_link"/>
    <axis xyz="0 0 -1"/>
    <dynamics damping="0.0" friction="0.0"/>
    <limit effort="100" lower="0.0" upper="0.785" velocity="100"/>
    <mimic joint="right_qbhand_index_distal_joint" multiplier="1.0"/>
  </joint>
  <link name="right_qbhand_index_distal_link">
    <inertial>
      <mass value="0.009"/>
      <origin rpy="0 0 0" xyz="8.8025467e-03 -1.7219289e-03 0.0"/>
      <inertia ixx="2.6586142e-07" ixy="1.2416847e-08" ixz="0.0" iyy="5.9935767e-07" iyz="0.0" izz="6.6781963e-07"/>
    </inertial>
    <visual>
      <origin rpy="0 0 0" xyz="0 0 0"/>
      <geometry>
        <mesh filename="../meshes/qbhand/ph_distal_yupzfront1.STL" scale="1 1 1"/>
      </geometry>
      <material name="qbhand/distal"/>
    </visual>
    <collision>
      <origin rpy="0 0 0" xyz="0 0 0"/>
      <geometry>
        <mesh filename="../meshes/qbhand/ph_distal_yupzfront1.STL" scale="1 1 1"/>
      </geometry>
    </collision>
  </link>
  <joint name="right_qbhand_middle_knuckle_joint" type="revolute">
    <origin rpy="0 0 1.57" xyz="0 0 0.014"/>
    <parent link="right_qbhand_palm_link"/>
    <child link="right_qbhand_middle_knuckle_link"/>
    <axis xyz="0 0 -1"/>
    <dynamics damping="0.0" friction="0.0"/>
    <limit effort="100" lower="-0.524" upper="0.524" velocity="100"/>
    <mimic joint="right_qbhand_synergy_joint" multiplier="0.0"/>
  </joint>
  <link name="right_qbhand_middle_knuckle_link">
    <inertial>
      <mass value="0.0095"/>
      <origin rpy="0 0 0" xyz="4.2753603e-04  0.0 -1.4321738e-03"/>
      <inertia ixx="6.4337303e-07" ixy="0.0" ixz="-3.9373913e-08" iyy="1.1253771e-06" iyz="0.0" izz="7.2336948e-07"/>
    </inertial>
    <visual>
      <origin rpy="0 0 0" xyz="0 0 0"/>
      <geometry>
        <mesh filename="../meshes/qbhand/ph_knuckle_yupzfront1.STL" scale="1 1 1"/>
      </geometry>
      <material name="qbhand/knuckle"/>
    </visual>
    <collision>
      <origin rpy="0 0 0" xyz="0 0 0"/>
      <geometry>
        <mesh filename="../meshes/qbhand/ph_knuckle_yupzfront1.STL" scale="1 1 1"/>
      </geometry>
    </collision>
  </link>
  <joint name="right_qbhand_middle_proximal_joint" type="revolute">
    <origin rpy="1.57 0 0" xyz="0.009 0 0"/>
    <parent link="right_qbhand_middle_knuckle_link"/>
    <child link="right_qbhand_middle_proximal_virtual_link"/>
    <axis xyz="0 0 -1"/>
    <dynamics damping="0.0" friction="0.0"/>
    <limit effort="100" lower="0.0" upper="0.785" velocity="100"/>
    <mimic joint="right_qbhand_synergy_joint" multiplier="0.785"/>
  </joint>
  <link name="right_qbhand_middle_proximal_virtual_link">
    <inertial>
      <origin rpy="0 0 0" xyz="0 0 0"/>
      <mass value="1e-4"/>
      <inertia ixx="1e-9" ixy="0.0" ixz="0.0" iyy="1e-9" iyz="0.0" izz="1e-9"/>
    </inertial>
  </link>
  <joint name="right_qbhand_middle_proximal_virtual_joint" type="revolute">
    <origin rpy="0 0 0" xyz="0.013 0 0"/>
    <parent link="right_qbhand_middle_proximal_virtual_link"/>
    <child link="right_qbhand_middle_proximal_link"/>
    <axis xyz="0 0 -1"/>
    <dynamics damping="0.0" friction="0.0"/>
    <limit effort="100" lower="0.0" upper="0.785" velocity="100"/>
    <mimic joint="right_qbhand_middle_proximal_joint" multiplier="1.0"/>
  </joint>
  <link name="right_qbhand_middle_proximal_link">
    <inertial>
      <mass value="0.0082"/>
      <origin rpy="0 0 0" xyz="8.7707437e-03 -1.7863138e-03 0.0"/>
      <inertia ixx="2.2722068e-07" ixy="1.1586053e-08" ixz="0.0" iyy="5.5947233e-07" iyz="0.0" izz="5.9562195e-07"/>
    </inertial>
    <visual>
      <origin rpy="0 0 0" xyz="0 0 0"/>
      <geometry>
        <mesh filename="../meshes/qbhand/ph_medium_yupzfront1.STL" scale="1 1 1"/>
      </geometry>
      <material name="qbhand/proximal"/>
    </visual>
    <collision>
      <origin rpy="0 0 0" xyz="0 0 0"/>
      <geometry>
        <mesh filename="../meshes/qbhand/ph_medium_yupzfront1.STL" scale="1 1 1"/>
      </geometry>
    </collision>
  </link>
  <joint name="right_qbhand_middle_middle_joint" type="revolute">
    <origin rpy="0 0 0" xyz="0.017 0 0"/>
    <parent link="right_qbhand_middle_proximal_link"/>
    <child link="right_qbhand_middle_middle_virtual_link"/>
    <axis xyz="0 0 -1"/>
    <dynamics damping="0.0" friction="0.0"/>
    <limit effort="100" lower="0.0" upper="0.785" velocity="100"/>
    <mimic joint="right_qbhand_synergy_joint" multiplier="0.785"/>
  </joint>
  <link name="right_qbhand_middle_middle_virtual_link">
    <inertial>
      <origin rpy="0 0 0" xyz="0 0 0"/>
      <mass value="1e-4"/>
      <inertia ixx="1e-9" ixy="0.0" ixz="0.0" iyy="1e-9" iyz="0.0" izz="1e-9"/>
    </inertial>
  </link>
  <joint name="right_qbhand_middle_middle_virtual_joint" type="revolute">
    <origin rpy="0 0 0" xyz="0.013 0 0"/>
    <parent link="right_qbhand_middle_middle_virtual_link"/>
    <child link="right_qbhand_middle_middle_link"/>
    <axis xyz="0 0 -1"/>
    <dynamics damping="0.0" friction="0.0"/>
    <limit effort="100" lower="0.0" upper="0.785" velocity="100"/>
    <mimic joint="right_qbhand_middle_middle_joint" multiplier="1.0"/>
  </joint>
  <link name="right_qbhand_middle_middle_link">
    <inertial>
      <mass value="0.0063"/>
      <origin rpy="0 0 0" xyz="4.7601567e-03 -1.3786947e-03 0.0"/>
      <inertia ixx="1.8024201e-07" ixy="5.756798e-09" ixz="0.0" iyy="2.3516266e-07" iyz="0.0" izz="2.691504e-07"/>
    </inertial>
    <visual>
      <origin rpy="0 0 0" xyz="0 0 0"/>
      <geometry>
        <mesh filename="../meshes/qbhand/ph_short_yupzfront1.STL" scale="1 1 1"/>
      </geometry>
      <material name="qbhand/middle"/>
    </visual>
    <collision>
      <origin rpy="0 0 0" xyz="0 0 0"/>
      <geometry>
        <mesh filename="../meshes/qbhand/ph_short_yupzfront1.STL" scale="1 1 1"/>
      </geometry>
    </collision>
  </link>
  <joint name="right_qbhand_middle_distal_joint" type="revolute">
    <origin rpy="0 0 0" xyz="0.009 0 0"/>
    <parent link="right_qbhand_middle_middle_link"/>
    <child link="right_qbhand_middle_distal_virtual_link"/>
    <axis xyz="0 0 -1"/>
    <dynamics damping="0.0" friction="0.0"/>
    <limit effort="100" lower="0.0" upper="0.785" velocity="100"/>
    <mimic joint="right_qbhand_synergy_joint" multiplier="0.785"/>
  </joint>
  <link name="right_qbhand_middle_distal_virtual_link">
    <inertial>
      <origin rpy="0 0 0" xyz="0 0 0"/>
      <mass value="1e-4"/>
      <inertia ixx="1e-9" ixy="0.0" ixz="0.0" iyy="1e-9" iyz="0.0" izz="1e-9"/>
    </inertial>
  </link>
  <joint name="right_qbhand_middle_distal_virtual_joint" type="revolute">
    <origin rpy="0 0 0" xyz="0.013 0 0"/>
    <parent link="right_qbhand_middle_distal_virtual_link"/>
    <child link="right_qbhand_middle_distal_link"/>
    <axis xyz="0 0 -1"/>
    <dynamics damping="0.0" friction="0.0"/>
    <limit effort="100" lower="0.0" upper="0.785" velocity="100"/>
    <mimic joint="right_qbhand_middle_distal_joint" multiplier="1.0"/>
  </joint>
  <link name="right_qbhand_middle_distal_link">
    <inertial>
      <mass value="0.009"/>
      <origin rpy="0 0 0" xyz="8.8025467e-03 -1.7219289e-03 0.0"/>
      <inertia ixx="2.6586142e-07" ixy="1.2416847e-08" ixz="0.0" iyy="5.9935767e-07" iyz="0.0" izz="6.6781963e-07"/>
    </inertial>
    <visual>
      <origin rpy="0 0 0" xyz="0 0 0"/>
      <geometry>
        <mesh filename="../meshes/qbhand/ph_distal_yupzfront1.STL" scale="1 1 1"/>
      </geometry>
      <material name="qbhand/distal"/>
    </visual>
    <collision>
      <origin rpy="0 0 0" xyz="0 0 0"/>
      <geometry>
        <mesh filename="../meshes/qbhand/ph_distal_yupzfront1.STL" scale="1 1 1"/>
      </geometry>
    </collision>
  </link>
  <joint name="right_qbhand_ring_knuckle_joint" type="revolute">
    <origin rpy="0 0 1.57" xyz="0.02 -0.007 0.014"/>
    <parent link="right_qbhand_palm_link"/>
    <child link="right_qbhand_ring_knuckle_link"/>
    <axis xyz="0 0 -1"/>
    <dynamics damping="0.0" friction="0.0"/>
    <limit effort="100" lower="-0.524" upper="0.524" velocity="100"/>
    <mimic joint="right_qbhand_synergy_joint" multiplier="0.2"/>
  </joint>
  <link name="right_qbhand_ring_knuckle_link">
    <inertial>
      <mass value="0.0095"/>
      <origin rpy="0 0 0" xyz="4.2753603e-04  0.0 -1.4321738e-03"/>
      <inertia ixx="6.4337303e-07" ixy="0.0" ixz="-3.9373913e-08" iyy="1.1253771e-06" iyz="0.0" izz="7.2336948e-07"/>
    </inertial>
    <visual>
      <origin rpy="0 0 0" xyz="0 0 0"/>
      <geometry>
        <mesh filename="../meshes/qbhand/ph_knuckle_yupzfront1.STL" scale="1 1 1"/>
      </geometry>
      <material name="qbhand/knuckle"/>
    </visual>
    <collision>
      <origin rpy="0 0 0" xyz="0 0 0"/>
      <geometry>
        <mesh filename="../meshes/qbhand/ph_knuckle_yupzfront1.STL" scale="1 1 1"/>
      </geometry>
    </collision>
  </link>
  <joint name="right_qbhand_ring_proximal_joint" type="revolute">
    <origin rpy="1.57 0 0" xyz="0.009 0 0"/>
    <parent link="right_qbhand_ring_knuckle_link"/>
    <child link="right_qbhand_ring_proximal_virtual_link"/>
    <axis xyz="0 0 -1"/>
    <dynamics damping="0.0" friction="0.0"/>
    <limit effort="100" lower="0.0" upper="0.785" velocity="100"/>
    <mimic joint="right_qbhand_synergy_joint" multiplier="0.785"/>
  </joint>
  <link name="right_qbhand_ring_proximal_virtual_link">
    <inertial>
      <origin rpy="0 0 0" xyz="0 0 0"/>
      <mass value="1e-4"/>
      <inertia ixx="1e-9" ixy="0.0" ixz="0.0" iyy="1e-9" iyz="0.0" izz="1e-9"/>
    </inertial>
  </link>
  <joint name="right_qbhand_ring_proximal_virtual_joint" type="revolute">
    <origin rpy="0 0 0" xyz="0.013 0 0"/>
    <parent link="right_qbhand_ring_proximal_virtual_link"/>
    <child link="right_qbhand_ring_proximal_link"/>
    <axis xyz="0 0 -1"/>
    <dynamics damping="0.0" friction="0.0"/>
    <limit effort="100" lower="0.0" upper="0.785" velocity="100"/>
    <mimic joint="right_qbhand_ring_proximal_joint" multiplier="1.0"/>
  </joint>
  <link name="right_qbhand_ring_proximal_link">
    <inertial>
      <mass value="0.0082"/>
      <origin rpy="0 0 0" xyz="8.7707437e-03 -1.7863138e-03 0.0"/>
      <inertia ixx="2.2722068e-07" ixy="1.1586053e-08" ixz="0.0" iyy="5.5947233e-07" iyz="0.0" izz="5.9562195e-07"/>
    </inertial>
    <visual>
      <origin rpy="0 0 0" xyz="0 0 0"/>
      <geometry>
        <mesh filename="../meshes/qbhand/ph_medium_yupzfront1.STL" scale="1 1 1"/>
      </geometry>
      <material name="qbhand/proximal"/>
    </visual>
    <collision>
      <origin rpy="0 0 0" xyz="0 0 0"/>
      <geometry>
        <mesh filename="../meshes/qbhand/ph_medium_yupzfront1.STL" scale="1 1 1"/>
      </geometry>
    </collision>
  </link>
  <joint name="right_qbhand_ring_middle_joint" type="revolute">
    <origin rpy="0 0 0" xyz="0.017 0 0"/>
    <parent link="right_qbhand_ring_proximal_link"/>
    <child link="right_qbhand_ring_middle_virtual_link"/>
    <axis xyz="0 0 -1"/>
    <dynamics damping="0.0" friction="0.0"/>
    <limit effort="100" lower="0.0" upper="0.785" velocity="100"/>
    <mimic joint="right_qbhand_synergy_joint" multiplier="0.785"/>
  </joint>
  <link name="right_qbhand_ring_middle_virtual_link">
    <inertial>
      <origin rpy="0 0 0" xyz="0 0 0"/>
      <mass value="1e-4"/>
      <inertia ixx="1e-9" ixy="0.0" ixz="0.0" iyy="1e-9" iyz="0.0" izz="1e-9"/>
    </inertial>
  </link>
  <joint name="right_qbhand_ring_middle_virtual_joint" type="revolute">
    <origin rpy="0 0 0" xyz="0.013 0 0"/>
    <parent link="right_qbhand_ring_middle_virtual_link"/>
    <child link="right_qbhand_ring_middle_link"/>
    <axis xyz="0 0 -1"/>
    <dynamics damping="0.0" friction="0.0"/>
    <limit effort="100" lower="0.0" upper="0.785" velocity="100"/>
    <mimic joint="right_qbhand_ring_middle_joint" multiplier="1.0"/>
  </joint>
  <link name="right_qbhand_ring_middle_link">
    <inertial>
      <mass value="0.0063"/>
      <origin rpy="0 0 0" xyz="4.7601567e-03 -1.3786947e-03 0.0"/>
      <inertia ixx="1.8024201e-07" ixy="5.756798e-09" ixz="0.0" iyy="2.3516266e-07" iyz="0.0" izz="2.691504e-07"/>
    </inertial>
    <visual>
      <origin rpy="0 0 0" xyz="0 0 0"/>
      <geometry>
        <mesh filename="../meshes/qbhand/ph_short_yupzfront1.STL" scale="1 1 1"/>
      </geometry>
      <material name="qbhand/middle"/>
    </visual>
    <collision>
      <origin rpy="0 0 0" xyz="0 0 0"/>
      <geometry>
        <mesh filename="../meshes/qbhand/ph_short_yupzfront1.STL" scale="1 1 1"/>
      </geometry>
    </collision>
  </link>
  <joint name="right_qbhand_ring_distal_joint" type="revolute">
    <origin rpy="0 0 0" xyz="0.009 0 0"/>
    <parent link="right_qbhand_ring_middle_link"/>
    <child link="right_qbhand_ring_distal_virtual_link"/>
    <axis xyz="0 0 -1"/>
    <dynamics damping="0.0" friction="0.0"/>
    <limit effort="100" lower="0.0" upper="0.785" velocity="100"/>
    <mimic joint="right_qbhand_synergy_joint" multiplier="0.785"/>
  </joint>
  <link name="right_qbhand_ring_distal_virtual_link">
    <inertial>
      <origin rpy="0 0 0" xyz="0 0 0"/>
      <mass value="1e-4"/>
      <inertia ixx="1e-9" ixy="0.0" ixz="0.0" iyy="1e-9" iyz="0.0" izz="1e-9"/>
    </inertial>
  </link>
  <joint name="right_qbhand_ring_distal_virtual_joint" type="revolute">
    <origin rpy="0 0 0" xyz="0.013 0 0"/>
    <parent link="right_qbhand_ring_distal_virtual_link"/>
    <child link="right_qbhand_ring_distal_link"/>
    <axis xyz="0 0 -1"/>
    <dynamics damping="0.0" friction="0.0"/>
    <limit effort="100" lower="0.0" upper="0.785" velocity="100"/>
    <mimic joint="right_qbhand_ring_distal_joint" multiplier="1.0"/>
  </joint>
  <link name="right_qbhand_ring_distal_link">
    <inertial>
      <mass value="0.009"/>
      <origin rpy="0 0 0" xyz="8.8025467e-03 -1.7219289e-03 0.0"/>
      <inertia ixx="2.6586142e-07" ixy="1.2416847e-08" ixz="0.0" iyy="5.9935767e-07" iyz="0.0" izz="6.6781963e-07"/>
    </inertial>
    <visual>
      <origin rpy="0 0 0" xyz="0 0 0"/>
      <geometry>
        <mesh filename="../meshes/qbhand/ph_distal_yupzfront1.STL" scale="1 1 1"/>
      </geometry>
      <material name="qbhand/distal"/>
    </visual>
    <collision>
      <origin rpy="0 0 0" xyz="0 0 0"/>
      <geometry>
        <mesh filename="../meshes/qbhand/ph_distal_yupzfront1.STL" scale="1 1 1"/>
      </geometry>
    </collision>
  </link>
  <joint name="right_qbhand_little_knuckle_joint" type="revolute">
    <origin rpy="0 0 1.57" xyz="0.04 -0.012 0.014"/>
    <parent link="right_qbhand_palm_link"/>
    <child link="right_qbhand_little_knuckle_link"/>
    <axis xyz="0 0 -1"/>
    <dynamics damping="0.0" friction="0.0"/>
    <limit effort="100" lower="-0.524" upper="0.524" velocity="100"/>
    <mimic joint="right_qbhand_synergy_joint" multiplier="0.4"/>
  </joint>
  <link name="right_qbhand_little_knuckle_link">
    <inertial>
      <mass value="0.0095"/>
      <origin rpy="0 0 0" xyz="4.2753603e-04  0.0 -1.4321738e-03"/>
      <inertia ixx="6.4337303e-07" ixy="0.0" ixz="-3.9373913e-08" iyy="1.1253771e-06" iyz="0.0" izz="7.2336948e-07"/>
    </inertial>
    <visual>
      <origin rpy="0 0 0" xyz="0 0 0"/>
      <geometry>
        <mesh filename="../meshes/qbhand/ph_knuckle_yupzfront1.STL" scale="1 1 1"/>
      </geometry>
      <material name="qbhand/knuckle"/>
    </visual>
    <collision>
      <origin rpy="0 0 0" xyz="0 0 0"/>
      <geometry>
        <mesh filename="../meshes/qbhand/ph_knuckle_yupzfront1.STL" scale="1 1 1"/>
      </geometry>
    </collision>
  </link>
  <joint name="right_qbhand_little_proximal_joint" type="revolute">
    <origin rpy="1.57 0 0" xyz="0.009 0 0"/>
    <parent link="right_qbhand_little_knuckle_link"/>
    <child link="right_qbhand_little_proximal_virtual_link"/>
    <axis xyz="0 0 -1"/>
    <dynamics damping="0.0" friction="0.0"/>
    <limit effort="100" lower="0.0" upper="0.785" velocity="100"/>
    <mimic joint="right_qbhand_synergy_joint" multiplier="0.785"/>
  </joint>
  <link name="right_qbhand_little_proximal_virtual_link">
    <inertial>
      <origin rpy="0 0 0" xyz="0 0 0"/>
      <mass value="1e-4"/>
      <inertia ixx="1e-9" ixy="0.0" ixz="0.0" iyy="1e-9" iyz="0.0" izz="1e-9"/>
    </inertial>
  </link>
  <joint name="right_qbhand_little_proximal_virtual_joint" type="revolute">
    <origin rpy="0 0 0" xyz="0.013 0 0"/>
    <parent link="right_qbhand_little_proximal_virtual_link"/>
    <child link="right_qbhand_little_proximal_link"/>
    <axis xyz="0 0 -1"/>
    <dynamics damping="0.0" friction="0.0"/>
    <limit effort="100" lower="0.0" upper="0.785" velocity="100"/>
    <mimic joint="right_qbhand_little_proximal_joint" multiplier="1.0"/>
  </joint>
  <link name="right_qbhand_little_proximal_link">
    <inertial>
      <mass value="0.0063"/>
      <origin rpy="0 0 0" xyz="4.7601567e-03 -1.3786947e-03 0.0"/>
      <inertia ixx="1.8024201e-07" ixy="5.756798e-09" ixz="0.0" iyy="2.3516266e-07" iyz="0.0" izz="2.691504e-07"/>
    </inertial>
    <visual>
      <origin rpy="0 0 0" xyz="0 0 0"/>
      <geometry>
        <mesh filename="../meshes/qbhand/ph_short_yupzfront1.STL" scale="1 1 1"/>
      </geometry>
      <material name="qbhand/proximal"/>
    </visual>
    <collision>
      <origin rpy="0 0 0" xyz="0 0 0"/>
      <geometry>
        <mesh filename="../meshes/qbhand/ph_short_yupzfront1.STL" scale="1 1 1"/>
      </geometry>
    </collision>
  </link>
  <joint name="right_qbhand_little_middle_joint" type="revolute">
    <origin rpy="0 0 0" xyz="0.009 0 0"/>
    <parent link="right_qbhand_little_proximal_link"/>
    <child link="right_qbhand_little_middle_virtual_link"/>
    <axis xyz="0 0 -1"/>
    <dynamics damping="0.0" friction="0.0"/>
    <limit effort="100" lower="0.0" upper="0.785" velocity="100"/>
    <mimic joint="right_qbhand_synergy_joint" multiplier="0.785"/>
  </joint>
  <link name="right_qbhand_little_middle_virtual_link">
    <inertial>
      <origin rpy="0 0 0" xyz="0 0 0"/>
      <mass value="1e-4"/>
      <inertia ixx="1e-9" ixy="0.0" ixz="0.0" iyy="1e-9" iyz="0.0" izz="1e-9"/>
    </inertial>
  </link>
  <joint name="right_qbhand_little_middle_virtual_joint" type="revolute">
    <origin rpy="0 0 0" xyz="0.013 0 0"/>
    <parent link="right_qbhand_little_middle_virtual_link"/>
    <child link="right_qbhand_little_middle_link"/>
    <axis xyz="0 0 -1"/>
    <dynamics damping="0.0" friction="0.0"/>
    <limit effort="100" lower="0.0" upper="0.785" velocity="100"/>
    <mimic joint="right_qbhand_little_middle_joint" multiplier="1.0"/>
  </joint>
  <link name="right_qbhand_little_middle_link">
    <inertial>
      <mass value="0.0063"/>
      <origin rpy="0 0 0" xyz="4.7601567e-03 -1.3786947e-03 0.0"/>
      <inertia ixx="1.8024201e-07" ixy="5.756798e-09" ixz="0.0" iyy="2.3516266e-07" iyz="0.0" izz="2.691504e-07"/>
    </inertial>
    <visual>
      <origin rpy="0 0 0" xyz="0 0 0"/>
      <geometry>
        <mesh filename="../meshes/qbhand/ph_short_yupzfront1.STL" scale="1 1 1"/>
      </geometry>
      <material name="qbhand/middle"/>
    </visual>
    <collision>
      <origin rpy="0 0 0" xyz="0 0 0"/>
      <geometry>
        <mesh filename="../meshes/qbhand/ph_short_yupzfront1.STL" scale="1 1 1"/>
      </geometry>
    </collision>
  </link>
  <joint name="right_qbhand_little_distal_joint" type="revolute">
    <origin rpy="0 0 0" xyz="0.009 0 0"/>
    <parent link="right_qbhand_little_middle_link"/>
    <child link="right_qbhand_little_distal_virtual_link"/>
    <axis xyz="0 0 -1"/>
    <dynamics damping="0.0" friction="0.0"/>
    <limit effort="100" lower="0.0" upper="0.785" velocity="100"/>
    <mimic joint="right_qbhand_synergy_joint" multiplier="0.785"/>
  </joint>
  <link name="right_qbhand_little_distal_virtual_link">
    <inertial>
      <origin rpy="0 0 0" xyz="0 0 0"/>
      <mass value="1e-4"/>
      <inertia ixx="1e-9" ixy="0.0" ixz="0.0" iyy="1e-9" iyz="0.0" izz="1e-9"/>
    </inertial>
  </link>
  <joint name="right_qbhand_little_distal_virtual_joint" type="revolute">
    <origin rpy="0 0 0" xyz="0.013 0 0"/>
    <parent link="right_qbhand_little_distal_virtual_link"/>
    <child link="right_qbhand_little_distal_link"/>
    <axis xyz="0 0 -1"/>
    <dynamics damping="0.0" friction="0.0"/>
    <limit effort="100" lower="0.0" upper="0.785" velocity="100"/>
    <mimic joint="right_qbhand_little_distal_joint" multiplier="1.0"/>
  </joint>
  <link name="right_qbhand_little_distal_link">
    <inertial>
      <mass value="0.009"/>
      <origin rpy="0 0 0" xyz="8.8025467e-03 -1.7219289e-03 0.0"/>
      <inertia ixx="2.6586142e-07" ixy="1.2416847e-08" ixz="0.0" iyy="5.9935767e-07" iyz="0.0" izz="6.6781963e-07"/>
    </inertial>
    <visual>
      <origin rpy="0 0 0" xyz="0 0 0"/>
      <geometry>
        <mesh filename="../meshes/qbhand/ph_distal_yupzfront1.STL" scale="1 1 1"/>
      </geometry>
      <material name="qbhand/distal"/>
    </visual>
    <collision>
      <origin rpy="0 0 0" xyz="0 0 0"/>
      <geometry>
        <mesh filename="../meshes/qbhand/ph_distal_yupzfront1.STL" scale="1 1 1"/>
      </geometry>
    </collision>
  </link>
  <joint name="right_qbhand_end_effector_fixed_joint" type="fixed">
    <origin rpy="-1.57 0 0" xyz="-0.03 0.060 0.142"/>
    <parent link="right_qbhand_base_link"/>
    <child link="right_qbhand_end_effector_link"/>
  </joint>
  <link name="right_qbhand_end_effector_link"/>
</robot>
